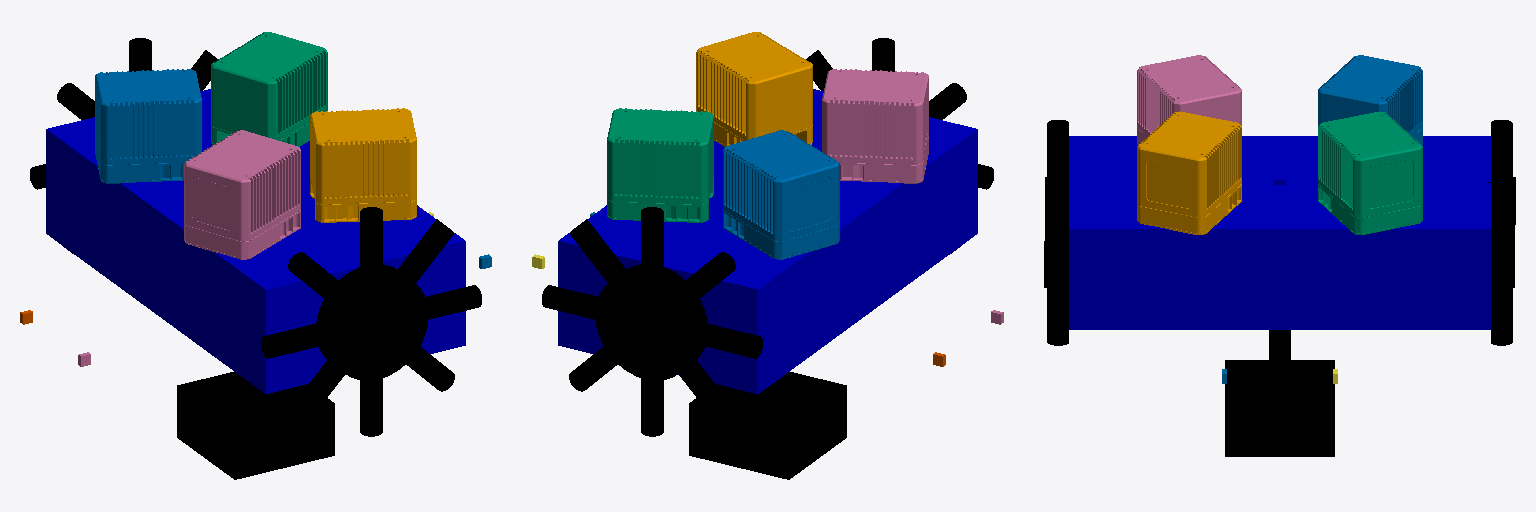
--- Render facts (derived) ---
Views: 3 orthographic renders of the robot side by side, from view 1: azimuth 30°, elevation 25°; view 2: azimuth 150°, elevation 25°; view 3: azimuth 270°, elevation 25°.
Robot: daedalus — 87 links, 86 joints (1 revolute, 6 continuous, 48 prismatic, 31 fixed); root link base_link; default pose: all joints at 0.
Links seen in each view (by area): view 1: filler_link, mid70_3, battery, mid70_0, mid70_2, mid70_1, inner_outer_connector_left, hip_left_5, hip_left_1, hip_left_0, hip_left_6, hip_left_7 (+6 smaller); view 2: filler_link, mid70_2, battery, mid70_1, mid70_3, mid70_0, inner_outer_connector_right, hip_right_5, hip_right_1, hip_right_0, hip_right_6, hip_right_7 (+6 smaller); view 3: filler_link, mid70_0, mid70_1, battery, mid70_2, mid70_3, hip_left_0, hip_right_0, battery_holder, hip_right_3, hip_left_3, hip_left_2 (+5 smaller).
Link boxes in pixels (x1,y1,x2,y2): filler_link: [46, 89, 465, 393]; mid70_3: [184, 130, 300, 259]; battery: [177, 372, 334, 479]; mid70_0: [310, 108, 416, 222]; mid70_2: [95, 69, 201, 183]; mid70_1: [211, 32, 327, 146]; inner_outer_connector_left: [316, 264, 428, 380]; hip_left_5: [288, 360, 344, 424]; hip_left_1: [398, 219, 454, 282]; hip_left_0: [360, 207, 382, 274]; hip_left_6: [261, 323, 326, 358]; hip_left_7: [288, 252, 345, 303]; filler_link: [558, 89, 977, 393]; mid70_2: [723, 130, 839, 259]; battery: [689, 372, 846, 479]; mid70_1: [607, 108, 713, 222]; mid70_3: [822, 69, 928, 183]; mid70_0: [696, 32, 812, 146]; inner_outer_connector_right: [595, 264, 707, 380]; hip_right_5: [679, 360, 735, 424]; hip_right_1: [569, 219, 625, 282]; hip_right_0: [641, 207, 663, 274]; hip_right_6: [697, 323, 762, 358]; hip_right_7: [678, 252, 735, 303]; filler_link: [1069, 136, 1490, 329]; mid70_0: [1137, 111, 1241, 234]; mid70_1: [1318, 111, 1422, 234]; battery: [1225, 360, 1334, 456]; mid70_2: [1318, 55, 1422, 144]; mid70_3: [1137, 55, 1241, 144]; hip_left_0: [1047, 123, 1068, 185]; hip_right_0: [1491, 123, 1512, 185]; battery_holder: [1269, 330, 1290, 387]; hip_right_3: [1491, 284, 1512, 345]; hip_left_3: [1047, 284, 1068, 345]; hip_left_2: [1047, 246, 1068, 291].
Bounding box of the posed robot: 0.41 × 0.4251 × 0.3253 m (x, y, z).
4 mesh visuals loaded from 1 distinct referenced files (1 ASCII STL).

The robot description file, URDF, robot "daedalus":
<?xml version="1.0" ?>
<!-- =================================================================================== -->
<!-- |    This document was autogenerated by xacro from daedalus.urdf.xacro            | -->
<!-- |    EDITING THIS FILE BY HAND IS NOT RECOMMENDED                                 | -->
<!-- =================================================================================== -->
<robot name="daedalus">
  <self_collide>false</self_collide>
  <!--Define some parameters -->
  <material name="white">
    <color rgba="1 1 1 0.2"/>
  </material>
  <material name="blue">
    <color rgba="0 0 0.8 0.1"/>
  </material>
  <material name="black">
    <color rgba="0 0 0 1"/>
  </material>
  <!--The sphere -->
  <link name="base_link"/>
  <link name="sphere">
    <!-- <visual>
      <geometry>
        <sphere radius="0.232"/>
      </geometry>
    </visual> -->
    <collision>
      <geometry>
        <sphere radius="0.232"/>
      </geometry>
    </collision>
    <inertial>
      <mass value="3"/>
      <inertia ixx="0.10764800000000001" ixy="0.0" ixz="0.0" iyy="0.10764800000000001" iyz="0.0" izz="0.10764800000000001"/>
    </inertial>
  </link>
  <gazebo reference="sphere">
    <mu1 value="200.0"/>
    <mu2 value="100.0"/>
    <kp value="10000000.0"/>
    <kd value="1.0"/>
    <material>Gazebo/GreyTransparent</material>
  </gazebo>
  <link name="filler_link">
    <visual>
      <geometry>
        <box size=".2 .38 .1"/>
      </geometry>
      <origin rpy="0 0 0" xyz="0 0 0"/>
      <material name="blue"/>
    </visual>
    <inertial>
      <mass value="1"/>
      <inertia ixx=".0145" ixy="0.0" ixz="0" iyy=".0181" iyz="0.0" izz=".006"/>
    </inertial>
  </link>
  <gazebo reference="filler_link">
    <material>Gazebo/Black</material>
  </gazebo>
  <link name="baseplate">
    <visual>
      <geometry>
        <box size=".2 .38 .1"/>
      </geometry>
      <origin rpy="0 0 0" xyz="0 0 0"/>
      <material name="blue"/>
    </visual>
    <inertial>
      <mass value="30"/>
      <inertia ixx="0.436" ixy="0.0" ixz="0" iyy="0.544" iyz="0.0" izz="0.18"/>
    </inertial>
  </link>
  <gazebo reference="baseplate">
    <material>Gazebo/Black</material>
  </gazebo>
  <joint name="connector_to_sphere_left" type="fixed">
    <parent link="inner_outer_connector_left"/>
    <child link="sphere"/>
    <origin xyz="0 0.2 0"/>
  </joint>
  <joint name="temp_cyl_1" type="continuous">
    <parent link="filler_link"/>
    <child link="inner_outer_connector_right"/>
    <axis rpy="0 0 0" xyz="0 1 0"/>
    <origin xyz="0 0.2 0"/>
    <limit effort="30.0" velocity="30.0"/>
    <joint_properties damping="1000.0" friction="1000.0"/>
    <dynamics damping="100.0" friction="200.0"/>
  </joint>
  <!--gazebo reference="temp_cyl_1">
    <implicitSpringDamper>true</implicitSpringDamper>
  </gazebo-->
  <joint name="temp_cyl_2" type="continuous">
    <parent link="filler_link"/>
    <child link="inner_outer_connector_left"/>
    <axis rpy="0 0 0" xyz="0 1 0"/>
    <origin xyz="0 -0.2 0"/>
    <limit effort="30.0" velocity="30.0"/>
    <joint_properties damping="1000.0" friction="1000.0"/>
    <dynamics damping="100.0" friction="200.0"/>
  </joint>
  <!--gazebo reference="temp_cyl_2">
    <implicitSpringDamper>true</implicitSpringDamper>
  </gazebo-->
  <joint name="filler" type="fixed">
    <parent link="base_link"/>
    <child link="filler_link"/>
    <origin xyz="0 0 0"/>
  </joint>
  <joint name="base_joint" type="fixed">
    <parent link="base_link"/>
    <child link="baseplate"/>
    <origin xyz="0 0 0"/>
  </joint>
  <transmission name="temp_cyl_1">
    <type>transmission_interface/SimpleTransmission</type>
    <actuator name="$temp_cyl_1">
      <mechanicalReduction>1</mechanicalReduction>
    </actuator>
    <joint name="temp_cyl_1">
      <hardwareInterface>hardware_interface/VelocityJointInterface</hardwareInterface>
    </joint>
  </transmission>
  <transmission name="temp_cyl_2">
    <type>transmission_interface/SimpleTransmission</type>
    <actuator name="$temp_cyl_2">
      <mechanicalReduction>1</mechanicalReduction>
    </actuator>
    <joint name="temp_cyl_2">
      <hardwareInterface>hardware_interface/VelocityJointInterface</hardwareInterface>
    </joint>
  </transmission>
  <link name="inner_outer_connector_right">
    <visual>
      <geometry>
        <cylinder length="0.025" radius="0.05"/>
      </geometry>
      <material name="black"/>
      <origin rpy="1.57 0 0" xyz="0 0 0"/>
    </visual>
    <collision>
      <geometry>
        <cylinder length="0.025" radius="0.05"/>
        <origin rpy="1.57 0 0" xyz="0 0 0"/>
      </geometry>
    </collision>
    <inertial>
      <mass value="0.3"/>
      <inertia ixx="1" ixy="0.0" ixz="0.0" iyy="1" iyz="0.0" izz="1"/>
    </inertial>
  </link>
  <gazebo reference="inner_outer_connector_right">
    <material>Gazebo/Black</material>
  </gazebo>
  <link name="inner_outer_connector_left">
    <visual>
      <geometry>
        <cylinder length="0.025" radius="0.05"/>
      </geometry>
      <material name="black"/>
      <origin rpy="1.57 0 0" xyz="0 0 0"/>
    </visual>
    <collision>
      <geometry>
        <cylinder length="0.025" radius="0.05"/>
        <origin rpy="1.57 0 0" xyz="0 0 0"/>
      </geometry>
    </collision>
    <inertial>
      <mass value="0.3"/>
      <inertia ixx="1" ixy="0.0" ixz="0.0" iyy="1" iyz="0.0" izz="1"/>
    </inertial>
  </link>
  <gazebo reference="inner_outer_connector_left">
    <material>Gazebo/Black</material>
  </gazebo>
  <link name="battery_holder">
    <visual>
      <geometry>
        <cylinder length="0.2" radius="0.01"/>
      </geometry>
      <origin rpy="0 0 0" xyz="0 0 -0.07"/>
      <material name="black"/>
    </visual>
    <collision>
      <geometry>
        <cylinder length="0.2" radius="0.01"/>
      </geometry>
    </collision>
    <inertial>
      <mass value="1"/>
      <inertia ixx="0.019" ixy="0.0" ixz="0.0" iyy="0.019" iyz="0.0" izz="0"/>
    </inertial>
  </link>
  <gazebo reference="battery_holder">
    <material>Gazebo/Black</material>
  </gazebo>
  <link name="battery">
    <visual>
      <geometry>
        <box size="0.1 0.1 0.05"/>
      </geometry>
      <origin rpy="0 0 0" xyz="0 0 0"/>
      <material name="black"/>
    </visual>
    <inertial>
      <mass value="10.0"/>
      <inertia ixx="0.01666666666666667" ixy="0.0" ixz="0.0" iyy="0.01666666666666667" iyz="0.0" izz="0.01041666666666667"/>
    </inertial>
    <collision>
      <geometry>
        <box size="0.1 0.1 0.05"/>
      </geometry>
    </collision>
  </link>
  <gazebo reference="battery">
    <material>Gazebo/Grey</material>
  </gazebo>
  <joint name="battery_joint" type="fixed">
    <parent link="battery_holder"/>
    <child link="battery"/>
    <origin xyz="0 0 -0.175"/>
  </joint>
  <joint name="battery_yaw" type="revolute">
    <parent link="baseplate"/>
    <axis xyz="1 0 0"/>
    <child link="battery_holder"/>
    <limit effort="1000.0" lower="-0.7853981633974483" upper="0.7853981633974483" velocity="0.5"/>
    <origin xyz="0 0 0"/>
    <joint_properties damping="1000.0" friction="1000.0"/>
    <dynamics damping="100.0" friction="200.0"/>
  </joint>
  <gazebo reference="battery_yaw">
    <implicitSpringDamper>true</implicitSpringDamper>
  </gazebo>
  <transmission name="battery_holder_trans">
    <type>transmission_interface/SimpleTransmission</type>
    <actuator name="$battery_holder__motor">
      <mechanicalReduction>1</mechanicalReduction>
    </actuator>
    <joint name="battery_yaw">
      <hardwareInterface>hardware_interface/PositionJointInterface</hardwareInterface>
    </joint>
  </transmission>
  <link name="hip_right_0">
    <visual>
      <geometry>
        <cylinder length="0.07" radius="0.01"/>
      </geometry>
      <material name="black"/>
    </visual>
    <collision>
      <geometry>
        <cylinder length="0.07" radius="0.01"/>
      </geometry>
    </collision>
    <inertial>
      <mass value="0.01"/>
      <inertia ixx="4.083333333333334e-06" ixy="0.0" ixz="0.0" iyy="0.0" iyz="0.0" izz="4.083333333333334e-06"/>
    </inertial>
  </link>
  <gazebo reference="hip_right_0">
    <material>Gazebo/Grey</material>
  </gazebo>
  <link name="outer_leg_right_0">
    <visual>
      <geometry>
        <cylinder length="0.07" radius="0.008"/>
      </geometry>
      <material name="black"/>
    </visual>
    <collision>
      <geometry>
        <cylinder length="0.07" radius="0.008"/>
      </geometry>
    </collision>
    <inertial>
      <mass value="0.008"/>
      <inertia ixx="3.2666666666666674e-06" ixy="0.0" ixz="0.0" iyy="0.0" iyz="0.0" izz="3.2666666666666674e-06"/>
    </inertial>
  </link>
  <gazebo reference="outer_leg_right_0">
    <material>Gazebo/Grey</material>
  </gazebo>
  <link name="center_leg_right_0">
    <visual>
      <geometry>
        <cylinder length="0.07" radius="0.006"/>
      </geometry>
      <material name="black"/>
    </visual>
    <collision>
      <geometry>
        <cylinder length="0.07" radius="0.006"/>
      </geometry>
    </collision>
    <inertial>
      <mass value="0.006"/>
      <inertia ixx="2.45e-06" ixy="0.0" ixz="0.0" iyy="2.45e-06" iyz="0.0" izz="0.0"/>
    </inertial>
  </link>
  <gazebo reference="center_leg_right_0">
    <material>Gazebo/Grey</material>
  </gazebo>
  <link name="inner_leg_right_0">
    <visual>
      <geometry>
        <cylinder length="0.07" radius="0.004"/>
      </geometry>
      <material name="black"/>
    </visual>
    <collision>
      <geometry>
        <cylinder length="0.07" radius="0.004"/>
      </geometry>
    </collision>
    <inertial>
      <mass value="0.004"/>
      <inertia ixx="1.6333333333333337e-06" ixy="0.0" ixz="0.0" iyy="1.6333333333333337e-06" iyz="0.0" izz="0.0"/>
    </inertial>
  </link>
  <gazebo reference="inner_leg_right_0">
    <material>Gazebo/Grey</material>
  </gazebo>
  <joint name="base_to_hip_right_0" type="fixed">
    <parent link="inner_outer_connector_right"/>
    <child link="hip_right_0"/>
    <origin rpy="0 0.0 0" xyz="0.0 0 0.07"/>
  </joint>
  <joint name="hip_to_outer_leg_right_0" type="prismatic">
    <axis xyz="0 0 1"/>
    <parent link="hip_right_0"/>
    <child link="outer_leg_right_0"/>
    <limit effort="200.0" lower="0.0" upper="0.07" velocity="0.1"/>
    <origin rpy="0 0 0" xyz="0 0 0"/>
    <dynamics damping="100" friction="200"/>
  </joint>
  <gazebo reference="hip_to_outer_leg_right_0">
    <implicitSpringDamper>true</implicitSpringDamper>
  </gazebo>
  <joint name="outer_to_center_leg_right_0" type="prismatic">
    <axis xyz="0 0 1"/>
    <parent link="outer_leg_right_0"/>
    <child link="center_leg_right_0"/>
    <limit effort="200.0" lower="0.0" upper="0.07" velocity="0.1"/>
    <origin rpy="0 0 0" xyz="0 0 0"/>
    <dynamics damping="100" friction="200"/>
  </joint>
  <gazebo reference="outer_to_center_leg_right_0">
    <implicitSpringDamper>true</implicitSpringDamper>
  </gazebo>
  <joint name="center_to_inner_leg_right_0" type="prismatic">
    <axis xyz="0 0 1"/>
    <parent link="center_leg_right_0"/>
    <child link="inner_leg_right_0"/>
    <limit effort="200.0" lower="0.0" upper="0.07" velocity="0.1"/>
    <origin rpy="0 0 0" xyz="0 0 0"/>
    <dynamics damping="100" friction="200"/>
  </joint>
  <gazebo reference="center_to_inner_leg_right_0">
    <implicitSpringDamper>true</implicitSpringDamper>
  </gazebo>
  <transmission name="outer_leg_extension_right_0_trans" type="SimpleTransmission">
    <type>transmission_interface/SimpleTransmission</type>
    <actuator name="outer_leg_extension_right_0_motor">
      <hardwareInterface>hardware_interface/PositionJointInterface</hardwareInterface>
      <mechanicalReduction>1</mechanicalReduction>
    </actuator>
    <joint name="hip_to_outer_leg_right_0">
      <hardwareInterface>hardware_interface/PositionJointInterface</hardwareInterface>
    </joint>
  </transmission>
  <transmission name="center_leg_extension_right_0_trans" type="SimpleTransmission">
    <type>transmission_interface/SimpleTransmission</type>
    <actuator name="center_leg_extension_right_0_motor">
      <hardwareInterface>hardware_interface/PositionJointInterface</hardwareInterface>
      <mechanicalReduction>1</mechanicalReduction>
    </actuator>
    <joint name="outer_to_center_leg_right_0">
      <hardwareInterface>hardware_interface/PositionJointInterface</hardwareInterface>
    </joint>
  </transmission>
  <transmission name="inner_leg_extension_right_0_trans" type="SimpleTransmission">
    <type>transmission_interface/SimpleTransmission</type>
    <actuator name="inner_leg_extension_right_0_motor">
      <hardwareInterface>hardware_interface/PositionJointInterface</hardwareInterface>
      <mechanicalReduction>1</mechanicalReduction>
    </actuator>
    <joint name="center_to_inner_leg_right_0">
      <hardwareInterface>hardware_interface/PositionJointInterface</hardwareInterface>
    </joint>
  </transmission>
  <link name="hip_right_2">
    <visual>
      <geometry>
        <cylinder length="0.07" radius="0.01"/>
      </geometry>
      <material name="black"/>
    </visual>
    <collision>
      <geometry>
        <cylinder length="0.07" radius="0.01"/>
      </geometry>
    </collision>
    <inertial>
      <mass value="0.01"/>
      <inertia ixx="4.083333333333334e-06" ixy="0.0" ixz="0.0" iyy="0.0" iyz="0.0" izz="4.083333333333334e-06"/>
    </inertial>
  </link>
  <gazebo reference="hip_right_2">
    <material>Gazebo/Grey</material>
  </gazebo>
  <link name="outer_leg_right_2">
    <visual>
      <geometry>
        <cylinder length="0.07" radius="0.008"/>
      </geometry>
      <material name="black"/>
    </visual>
    <collision>
      <geometry>
        <cylinder length="0.07" radius="0.008"/>
      </geometry>
    </collision>
    <inertial>
      <mass value="0.008"/>
      <inertia ixx="3.2666666666666674e-06" ixy="0.0" ixz="0.0" iyy="0.0" iyz="0.0" izz="3.2666666666666674e-06"/>
    </inertial>
  </link>
  <gazebo reference="outer_leg_right_2">
    <material>Gazebo/Grey</material>
  </gazebo>
  <link name="center_leg_right_2">
    <visual>
      <geometry>
        <cylinder length="0.07" radius="0.006"/>
      </geometry>
      <material name="black"/>
    </visual>
    <collision>
      <geometry>
        <cylinder length="0.07" radius="0.006"/>
      </geometry>
    </collision>
    <inertial>
      <mass value="0.006"/>
      <inertia ixx="2.45e-06" ixy="0.0" ixz="0.0" iyy="2.45e-06" iyz="0.0" izz="0.0"/>
    </inertial>
  </link>
  <gazebo reference="center_leg_right_2">
    <material>Gazebo/Grey</material>
  </gazebo>
  <link name="inner_leg_right_2">
    <visual>
      <geometry>
        <cylinder length="0.07" radius="0.004"/>
      </geometry>
      <material name="black"/>
    </visual>
    <collision>
      <geometry>
        <cylinder length="0.07" radius="0.004"/>
      </geometry>
    </collision>
    <inertial>
      <mass value="0.004"/>
      <inertia ixx="1.6333333333333337e-06" ixy="0.0" ixz="0.0" iyy="1.6333333333333337e-06" iyz="0.0" izz="0.0"/>
    </inertial>
  </link>
  <gazebo reference="inner_leg_right_2">
    <material>Gazebo/Grey</material>
  </gazebo>
  <joint name="base_to_hip_right_2" type="fixed">
    <parent link="inner_outer_connector_right"/>
    <child link="hip_right_2"/>
    <origin rpy="0 1.5707963267948966 0" xyz="0.07 0 4.286263797015737e-18"/>
  </joint>
  <joint name="hip_to_outer_leg_right_2" type="prismatic">
    <axis xyz="0 0 1"/>
    <parent link="hip_right_2"/>
    <child link="outer_leg_right_2"/>
    <limit effort="200.0" lower="0.0" upper="0.07" velocity="0.1"/>
    <origin rpy="0 0 0" xyz="0 0 0"/>
    <dynamics damping="100" friction="200"/>
  </joint>
  <gazebo reference="hip_to_outer_leg_right_2">
    <implicitSpringDamper>true</implicitSpringDamper>
  </gazebo>
  <joint name="outer_to_center_leg_right_2" type="prismatic">
    <axis xyz="0 0 1"/>
    <parent link="outer_leg_right_2"/>
    <child link="center_leg_right_2"/>
    <limit effort="200.0" lower="0.0" upper="0.07" velocity="0.1"/>
    <origin rpy="0 0 0" xyz="0 0 0"/>
    <dynamics damping="100" friction="200"/>
  </joint>
  <gazebo reference="outer_to_center_leg_right_2">
    <implicitSpringDamper>true</implicitSpringDamper>
  </gazebo>
  <joint name="center_to_inner_leg_right_2" type="prismatic">
    <axis xyz="0 0 1"/>
    <parent link="center_leg_right_2"/>
    <child link="inner_leg_right_2"/>
    <limit effort="200.0" lower="0.0" upper="0.07" velocity="0.1"/>
    <origin rpy="0 0 0" xyz="0 0 0"/>
    <dynamics damping="100" friction="200"/>
  </joint>
  <gazebo reference="center_to_inner_leg_right_2">
    <implicitSpringDamper>true</implicitSpringDamper>
  </gazebo>
  <transmission name="outer_leg_extension_right_2_trans" type="SimpleTransmission">
    <type>transmission_interface/SimpleTransmission</type>
    <actuator name="outer_leg_extension_right_2_motor">
      <hardwareInterface>hardware_interface/PositionJointInterface</hardwareInterface>
      <mechanicalReduction>1</mechanicalReduction>
    </actuator>
    <joint name="hip_to_outer_leg_right_2">
      <hardwareInterface>hardware_interface/PositionJointInterface</hardwareInterface>
    </joint>
  </transmission>
  <transmission name="center_leg_extension_right_2_trans" type="SimpleTransmission">
    <type>transmission_interface/SimpleTransmission</type>
    <actuator name="center_leg_extension_right_2_motor">
      <hardwareInterface>hardware_interface/PositionJointInterface</hardwareInterface>
      <mechanicalReduction>1</mechanicalReduction>
    </actuator>
    <joint name="outer_to_center_leg_right_2">
      <hardwareInterface>hardware_interface/PositionJointInterface</hardwareInterface>
    </joint>
  </transmission>
  <transmission name="inner_leg_extension_right_2_trans" type="SimpleTransmission">
    <type>transmission_interface/SimpleTransmission</type>
    <actuator name="inner_leg_extension_right_2_motor">
      <hardwareInterface>hardware_interface/PositionJointInterface</hardwareInterface>
      <mechanicalReduction>1</mechanicalReduction>
    </actuator>
    <joint name="center_to_inner_leg_right_2">
      <hardwareInterface>hardware_interface/PositionJointInterface</hardwareInterface>
    </joint>
  </transmission>
  <link name="hip_right_4">
    <visual>
      <geometry>
        <cylinder length="0.07" radius="0.01"/>
      </geometry>
      <material name="black"/>
    </visual>
    <collision>
      <geometry>
        <cylinder length="0.07" radius="0.01"/>
      </geometry>
    </collision>
    <inertial>
      <mass value="0.01"/>
      <inertia ixx="4.083333333333334e-06" ixy="0.0" ixz="0.0" iyy="0.0" iyz="0.0" izz="4.083333333333334e-06"/>
    </inertial>
  </link>
  <gazebo reference="hip_right_4">
    <material>Gazebo/Grey</material>
  </gazebo>
  <link name="outer_leg_right_4">
    <visual>
      <geometry>
        <cylinder length="0.07" radius="0.008"/>
      </geometry>
      <material name="black"/>
    </visual>
    <collision>
      <geometry>
        <cylinder length="0.07" radius="0.008"/>
      </geometry>
    </collision>
    <inertial>
      <mass value="0.008"/>
      <inertia ixx="3.2666666666666674e-06" ixy="0.0" ixz="0.0" iyy="0.0" iyz="0.0" izz="3.2666666666666674e-06"/>
    </inertial>
  </link>
  <gazebo reference="outer_leg_right_4">
    <material>Gazebo/Grey</material>
  </gazebo>
  <link name="center_leg_right_4">
    <visual>
      <geometry>
        <cylinder length="0.07" radius="0.006"/>
      </geometry>
      <material name="black"/>
    </visual>
    <collision>
      <geometry>
        <cylinder length="0.07" radius="0.006"/>
      </geometry>
    </collision>
    <inertial>
      <mass value="0.006"/>
      <inertia ixx="2.45e-06" ixy="0.0" ixz="0.0" iyy="2.45e-06" iyz="0.0" izz="0.0"/>
    </inertial>
  </link>
  <gazebo reference="center_leg_right_4">
    <material>Gazebo/Grey</material>
  </gazebo>
  <link name="inner_leg_right_4">
    <visual>
      <geometry>
        <cylinder length="0.07" radius="0.004"/>
      </geometry>
      <material name="black"/>
    </visual>
    <collision>
      <geometry>
        <cylinder length="0.07" radius="0.004"/>
      </geometry>
    </collision>
    <inertial>
      <mass value="0.004"/>
      <inertia ixx="1.6333333333333337e-06" ixy="0.0" ixz="0.0" iyy="1.6333333333333337e-06" iyz="0.0" izz="0.0"/>
    </inertial>
  </link>
  <gazebo reference="inner_leg_right_4">
    <material>Gazebo/Grey</material>
  </gazebo>
  <joint name="base_to_hip_right_4" type="fixed">
    <parent link="inner_outer_connector_right"/>
    <child link="hip_right_4"/>
    <origin rpy="0 3.141592653589793 0" xyz="8.572527594031473e-18 0 -0.07"/>
  </joint>
  <joint name="hip_to_outer_leg_right_4" type="prismatic">
    <axis xyz="0 0 1"/>
    <parent link="hip_right_4"/>
    <child link="outer_leg_right_4"/>
    <limit effort="200.0" lower="0.0" upper="0.07" velocity="0.1"/>
    <origin rpy="0 0 0" xyz="0 0 0"/>
    <dynamics damping="100" friction="200"/>
  </joint>
  <gazebo reference="hip_to_outer_leg_right_4">
    <implicitSpringDamper>true</implicitSpringDamper>
  </gazebo>
  <joint name="outer_to_center_leg_right_4" type="prismatic">
    <axis xyz="0 0 1"/>
    <parent link="outer_leg_right_4"/>
    <child link="center_leg_right_4"/>
    <limit effort="200.0" lower="0.0" upper="0.07" velocity="0.1"/>
    <origin rpy="0 0 0" xyz="0 0 0"/>
    <dynamics damping="100" friction="200"/>
  </joint>
  <gazebo reference="outer_to_center_leg_right_4">
    <implicitSpringDamper>true</implicitSpringDamper>
  </gazebo>
  <joint name="center_to_inner_leg_right_4" type="prismatic">
    <axis xyz="0 0 1"/>
    <parent link="center_leg_right_4"/>
    <child link="inner_leg_right_4"/>
    <limit effort="200.0" lower="0.0" upper="0.07" velocity="0.1"/>
    <origin rpy="0 0 0" xyz="0 0 0"/>
    <dynamics damping="100" friction="200"/>
  </joint>
  <gazebo reference="center_to_inner_leg_right_4">
    <implicitSpringDamper>true</implicitSpringDamper>
  </gazebo>
  <transmission name="outer_leg_extension_right_4_trans" type="SimpleTransmission">
    <type>transmission_interface/SimpleTransmission</type>
    <actuator name="outer_leg_extension_right_4_motor">
      <hardwareInterface>hardware_interface/PositionJointInterface</hardwareInterface>
      <mechanicalReduction>1</mechanicalReduction>
    </actuator>
    <joint name="hip_to_outer_leg_right_4">
      <hardwareInterface>hardware_interface/PositionJointInterface</hardwareInterface>
    </joint>
  </transmission>
  <transmission name="center_leg_extension_right_4_trans" type="SimpleTransmission">
    <type>transmission_interface/SimpleTransmission</type>
    <actuator name="center_leg_extension_right_4_motor">
      <hardwareInterface>hardware_interface/PositionJointInterface</hardwareInterface>
      <mechanicalReduction>1</mechanicalReduction>
    </actuator>
    <joint name="outer_to_center_leg_right_4">
      <hardwareInterface>hardware_interface/PositionJointInterface</hardwareInterface>
    </joint>
  </transmission>
  <transmission name="inner_leg_extension_right_4_trans" type="SimpleTransmission">
    <type>transmission_interface/SimpleTransmission</type>
    <actuator name="inner_leg_extension_right_4_motor">
      <hardwareInterface>hardware_interface/PositionJointInterface</hardwareInterface>
      <mechanicalReduction>1</mechanicalReduction>
    </actuator>
    <joint name="center_to_inner_leg_right_4">
      <hardwareInterface>hardware_interface/PositionJointInterface</hardwareInterface>
    </joint>
  </transmission>
  <link name="hip_right_6">
    <visual>
      <geometry>
        <cylinder length="0.07" radius="0.01"/>
      </geometry>
      <material name="black"/>
    </visual>
    <collision>
      <geometry>
        <cylinder length="0.07" radius="0.01"/>
      </geometry>
    </collision>
    <inertial>
      <mass value="0.01"/>
      <inertia ixx="4.083333333333334e-06" ixy="0.0" ixz="0.0" iyy="0.0" iyz="0.0" izz="4.083333333333334e-06"/>
    </inertial>
  </link>
  <gazebo reference="hip_right_6">
    <material>Gazebo/Grey</material>
  </gazebo>
  <link name="outer_leg_right_6">
    <visual>
      <geometry>
        <cylinder length="0.07" radius="0.008"/>
      </geometry>
      <material name="black"/>
    </visual>
    <collision>
      <geometry>
        <cylinder length="0.07" radius="0.008"/>
      </geometry>
    </collision>
    <inertial>
      <mass value="0.008"/>
      <inertia ixx="3.2666666666666674e-06" ixy="0.0" ixz="0.0" iyy="0.0" iyz="0.0" izz="3.2666666666666674e-06"/>
    </inertial>
  </link>
  <gazebo reference="outer_leg_right_6">
    <material>Gazebo/Grey</material>
  </gazebo>
  <link name="center_leg_right_6">
    <visual>
      <geometry>
        <cylinder length="0.07" radius="0.006"/>
      </geometry>
      <material name="black"/>
    </visual>
    <collision>
      <geometry>
        <cylinder length="0.07" radius="0.006"/>
      </geometry>
    </collision>
    <inertial>
      <mass value="0.006"/>
      <inertia ixx="2.45e-06" ixy="0.0" ixz="0.0" iyy="2.45e-06" iyz="0.0" izz="0.0"/>
    </inertial>
  </link>
  <gazebo reference="center_leg_right_6">
    <material>Gazebo/Grey</material>
  </gazebo>
  <link name="inner_leg_right_6">
    <visual>
      <geometry>
        <cylinder length="0.07" radius="0.004"/>
      </geometry>
      <material name="black"/>
    </visual>
    <collision>
      <geometry>
        <cylinder length="0.07" radius="0.004"/>
      </geometry>
    </collision>
    <inertial>
      <mass value="0.004"/>
      <inertia ixx="1.6333333333333337e-06" ixy="0.0" ixz="0.0" iyy="1.6333333333333337e-06" iyz="0.0" izz="0.0"/>
    </inertial>
  </link>
  <gazebo reference="inner_leg_right_6">
    <material>Gazebo/Grey</material>
  </gazebo>
  <joint name="base_to_hip_right_6" type="fixed">
    <parent link="inner_outer_connector_right"/>
    <child link="hip_right_6"/>
    <origin rpy="0 4.71238898038469 0" xyz="-0.07 0 -1.285879139104721e-17"/>
  </joint>
  <joint name="hip_to_outer_leg_right_6" type="prismatic">
    <axis xyz="0 0 1"/>
    <parent link="hip_right_6"/>
    <child link="outer_leg_right_6"/>
    <limit effort="200.0" lower="0.0" upper="0.07" velocity="0.1"/>
    <origin rpy="0 0 0" xyz="0 0 0"/>
    <dynamics damping="100" friction="200"/>
  </joint>
  <gazebo reference="hip_to_outer_leg_right_6">
    <implicitSpringDamper>true</implicitSpringDamper>
  </gazebo>
  <joint name="outer_to_center_leg_right_6" type="prismatic">
    <axis xyz="0 0 1"/>
    <parent link="outer_leg_right_6"/>
    <child link="center_leg_right_6"/>
    <limit effort="200.0" lower="0.0" upper="0.07" velocity="0.1"/>
    <origin rpy="0 0 0" xyz="0 0 0"/>
    <dynamics damping="100" friction="200"/>
  </joint>
  <gazebo reference="outer_to_center_leg_right_6">
    <implicitSpringDamper>true</implicitSpringDamper>
  </gazebo>
  <joint name="center_to_inner_leg_right_6" type="prismatic">
    <axis xyz="0 0 1"/>
    <parent link="center_leg_right_6"/>
    <child link="inner_leg_right_6"/>
    <limit effort="200.0" lower="0.0" upper="0.07" velocity="0.1"/>
    <origin rpy="0 0 0" xyz="0 0 0"/>
    <dynamics damping="100" friction="200"/>
  </joint>
  <gazebo reference="center_to_inner_leg_right_6">
    <implicitSpringDamper>true</implicitSpringDamper>
  </gazebo>
  <transmission name="outer_leg_extension_right_6_trans" type="SimpleTransmission">
    <type>transmission_interface/SimpleTransmission</type>
    <actuator name="outer_leg_extension_right_6_motor">
      <hardwareInterface>hardware_interface/PositionJointInterface</hardwareInterface>
      <mechanicalReduction>1</mechanicalReduction>
    </actuator>
    <joint name="hip_to_outer_leg_right_6">
      <hardwareInterface>hardware_interface/PositionJointInterface</hardwareInterface>
    </joint>
  </transmission>
  <transmission name="center_leg_extension_right_6_trans" type="SimpleTransmission">
    <type>transmission_interface/SimpleTransmission</type>
    <actuator name="center_leg_extension_right_6_motor">
      <hardwareInterface>hardware_interface/PositionJointInterface</hardwareInterface>
      <mechanicalReduction>1</mechanicalReduction>
    </actuator>
    <joint name="outer_to_center_leg_right_6">
      <hardwareInterface>hardware_interface/PositionJointInterface</hardwareInterface>
    </joint>
  </transmission>
  <transmission name="inner_leg_extension_right_6_trans" type="SimpleTransmission">
    <type>transmission_interface/SimpleTransmission</type>
    <actuator name="inner_leg_extension_right_6_motor">
      <hardwareInterface>hardware_interface/PositionJointInterface</hardwareInterface>
      <mechanicalReduction>1</mechanicalReduction>
    </actuator>
    <joint name="center_to_inner_leg_right_6">
      <hardwareInterface>hardware_interface/PositionJointInterface</hardwareInterface>
    </joint>
  </transmission>
  <link name="hip_right_1">
    <visual>
      <geometry>
        <cylinder length="0.07" radius="0.01"/>
      </geometry>
      <material name="black"/>
    </visual>
    <collision>
      <geometry>
        <cylinder length="0.07" radius="0.01"/>
      </geometry>
    </collision>
    <inertial>
      <mass value="0.01"/>
      <inertia ixx="4.083333333333334e-06" ixy="0.0" ixz="0.0" iyy="0.0" iyz="0.0" izz="4.083333333333334e-06"/>
    </inertial>
  </link>
  <gazebo reference="hip_right_1">
    <material>Gazebo/Grey</material>
  </gazebo>
  <link name="outer_leg_right_1">
    <visual>
      <geometry>
        <cylinder length="0.07" radius="0.008"/>
      </geometry>
      <material name="black"/>
    </visual>
    <collision>
      <geometry>
        <cylinder length="0.07" radius="0.008"/>
      </geometry>
    </collision>
    <inertial>
      <mass value="0.008"/>
      <inertia ixx="3.2666666666666674e-06" ixy="0.0" ixz="0.0" iyy="0.0" iyz="0.0" izz="3.2666666666666674e-06"/>
    </inertial>
  </link>
  <gazebo reference="outer_leg_right_1">
    <material>Gazebo/Grey</material>
  </gazebo>
  <link name="center_leg_right_1">
    <visual>
      <geometry>
        <cylinder length="0.07" radius="0.006"/>
      </geometry>
      <material name="black"/>
    </visual>
    <collision>
      <geometry>
        <cylinder length="0.07" radius="0.006"/>
      </geometry>
    </collision>
    <inertial>
      <mass value="0.006"/>
      <inertia ixx="2.45e-06" ixy="0.0" ixz="0.0" iyy="2.45e-06" iyz="0.0" izz="0.0"/>
    </inertial>
  </link>
  <gazebo reference="center_leg_right_1">
    <material>Gazebo/Grey</material>
  </gazebo>
  <link name="inner_leg_right_1">
    <visual>
      <geometry>
        <cylinder length="0.07" radius="0.004"/>
      </geometry>
      <material name="black"/>
    </visual>
    <collision>
      <geometry>
        <cylinder length="0.07" radius="0.004"/>
      </geometry>
    </collision>
    <inertial>
      <mass value="0.004"/>
      <inertia ixx="1.6333333333333337e-06" ixy="0.0" ixz="0.0" iyy="1.6333333333333337e-06" iyz="0.0" izz="0.0"/>
    </inertial>
  </link>
  <gazebo reference="inner_leg_right_1">
    <material>Gazebo/Grey</material>
  </gazebo>
  <joint name="base_to_hip_right_1" type="fixed">
    <parent link="inner_outer_connector_right"/>
    <child link="hip_right_1"/>
    <origin rpy="0 0.7853981633974483 0" xyz="0.049497474683058325 0 0.04949747468305833"/>
  </joint>
  <joint name="hip_to_outer_leg_right_1" type="prismatic">
    <axis xyz="0 0 1"/>
    <parent link="hip_right_1"/>
    <child link="outer_leg_right_1"/>
    <limit effort="200.0" lower="0.0" upper="0.07" velocity="0.1"/>
    <origin rpy="0 0 0" xyz="0 0 0"/>
    <dynamics damping="100" friction="200"/>
  </joint>
  <gazebo reference="hip_to_outer_leg_right_1">
    <implicitSpringDamper>true</implicitSpringDamper>
  </gazebo>
  <joint name="outer_to_center_leg_right_1" type="prismatic">
    <axis xyz="0 0 1"/>
    <parent link="outer_leg_right_1"/>
    <child link="center_leg_right_1"/>
    <limit effort="200.0" lower="0.0" upper="0.07" velocity="0.1"/>
    <origin rpy="0 0 0" xyz="0 0 0"/>
    <dynamics damping="100" friction="200"/>
  </joint>
  <gazebo reference="outer_to_center_leg_right_1">
    <implicitSpringDamper>true</implicitSpringDamper>
  </gazebo>
  <joint name="center_to_inner_leg_right_1" type="prismatic">
    <axis xyz="0 0 1"/>
    <parent link="center_leg_right_1"/>
    <child link="inner_leg_right_1"/>
    <limit effort="200.0" lower="0.0" upper="0.07" velocity="0.1"/>
    <origin rpy="0 0 0" xyz="0 0 0"/>
    <dynamics damping="100" friction="200"/>
  </joint>
  <gazebo reference="center_to_inner_leg_right_1">
    <implicitSpringDamper>true</implicitSpringDamper>
  </gazebo>
  <transmission name="outer_leg_extension_right_1_trans" type="SimpleTransmission">
    <type>transmission_interface/SimpleTransmission</type>
    <actuator name="outer_leg_extension_right_1_motor">
      <hardwareInterface>hardware_interface/PositionJointInterface</hardwareInterface>
      <mechanicalReduction>1</mechanicalReduction>
    </actuator>
    <joint name="hip_to_outer_leg_right_1">
      <hardwareInterface>hardware_interface/PositionJointInterface</hardwareInterface>
    </joint>
  </transmission>
  <transmission name="center_leg_extension_right_1_trans" type="SimpleTransmission">
    <type>transmission_interface/SimpleTransmission</type>
    <actuator name="center_leg_extension_right_1_motor">
      <hardwareInterface>hardware_interface/PositionJointInterface</hardwareInterface>
      <mechanicalReduction>1</mechanicalReduction>
    </actuator>
    <joint name="outer_to_center_leg_right_1">
      <hardwareInterface>hardware_interface/PositionJointInterface</hardwareInterface>
    </joint>
  </transmission>
  <transmission name="inner_leg_extension_right_1_trans" type="SimpleTransmission">
    <type>transmission_interface/SimpleTransmission</type>
    <actuator name="inner_leg_extension_right_1_motor">
      <hardwareInterface>hardware_interface/PositionJointInterface</hardwareInterface>
      <mechanicalReduction>1</mechanicalReduction>
    </actuator>
    <joint name="center_to_inner_leg_right_1">
      <hardwareInterface>hardware_interface/PositionJointInterface</hardwareInterface>
    </joint>
  </transmission>
  <link name="hip_right_3">
    <visual>
      <geometry>
        <cylinder length="0.07" radius="0.01"/>
      </geometry>
      <material name="black"/>
    </visual>
    <collision>
      <geometry>
        <cylinder length="0.07" radius="0.01"/>
      </geometry>
    </collision>
    <inertial>
      <mass value="0.01"/>
      <inertia ixx="4.083333333333334e-06" ixy="0.0" ixz="0.0" iyy="0.0" iyz="0.0" izz="4.083333333333334e-06"/>
    </inertial>
  </link>
  <gazebo reference="hip_right_3">
    <material>Gazebo/Grey</material>
  </gazebo>
  <link name="outer_leg_right_3">
    <visual>
      <geometry>
        <cylinder length="0.07" radius="0.008"/>
      </geometry>
      <material name="black"/>
    </visual>
    <collision>
      <geometry>
        <cylinder length="0.07" radius="0.008"/>
      </geometry>
    </collision>
    <inertial>
      <mass value="0.008"/>
      <inertia ixx="3.2666666666666674e-06" ixy="0.0" ixz="0.0" iyy="0.0" iyz="0.0" izz="3.2666666666666674e-06"/>
    </inertial>
  </link>
  <gazebo reference="outer_leg_right_3">
    <material>Gazebo/Grey</material>
  </gazebo>
  <link name="center_leg_right_3">
    <visual>
      <geometry>
        <cylinder length="0.07" radius="0.006"/>
      </geometry>
      <material name="black"/>
    </visual>
    <collision>
      <geometry>
        <cylinder length="0.07" radius="0.006"/>
      </geometry>
    </collision>
    <inertial>
      <mass value="0.006"/>
      <inertia ixx="2.45e-06" ixy="0.0" ixz="0.0" iyy="2.45e-06" iyz="0.0" izz="0.0"/>
    </inertial>
  </link>
  <gazebo reference="center_leg_right_3">
    <material>Gazebo/Grey</material>
  </gazebo>
  <link name="inner_leg_right_3">
    <visual>
      <geometry>
        <cylinder length="0.07" radius="0.004"/>
      </geometry>
      <material name="black"/>
    </visual>
    <collision>
      <geometry>
        <cylinder length="0.07" radius="0.004"/>
      </geometry>
    </collision>
    <inertial>
      <mass value="0.004"/>
      <inertia ixx="1.6333333333333337e-06" ixy="0.0" ixz="0.0" iyy="1.6333333333333337e-06" iyz="0.0" izz="0.0"/>
    </inertial>
  </link>
  <gazebo reference="inner_leg_right_3">
    <material>Gazebo/Grey</material>
  </gazebo>
  <joint name="base_to_hip_right_3" type="fixed">
    <parent link="inner_outer_connector_right"/>
    <child link="hip_right_3"/>
    <origin rpy="0 2.356194490192345 0" xyz="0.04949747468305833 0 -0.049497474683058325"/>
  </joint>
  <joint name="hip_to_outer_leg_right_3" type="prismatic">
    <axis xyz="0 0 1"/>
    <parent link="hip_right_3"/>
    <child link="outer_leg_right_3"/>
    <limit effort="200.0" lower="0.0" upper="0.07" velocity="0.1"/>
    <origin rpy="0 0 0" xyz="0 0 0"/>
    <dynamics damping="100" friction="200"/>
  </joint>
  <gazebo reference="hip_to_outer_leg_right_3">
    <implicitSpringDamper>true</implicitSpringDamper>
  </gazebo>
  <joint name="outer_to_center_leg_right_3" type="prismatic">
    <axis xyz="0 0 1"/>
    <parent link="outer_leg_right_3"/>
    <child link="center_leg_right_3"/>
    <limit effort="200.0" lower="0.0" upper="0.07" velocity="0.1"/>
    <origin rpy="0 0 0" xyz="0 0 0"/>
    <dynamics damping="100" friction="200"/>
  </joint>
  <gazebo reference="outer_to_center_leg_right_3">
    <implicitSpringDamper>true</implicitSpringDamper>
  </gazebo>
  <joint name="center_to_inner_leg_right_3" type="prismatic">
    <axis xyz="0 0 1"/>
    <parent link="center_leg_right_3"/>
    <child link="inner_leg_right_3"/>
    <limit effort="200.0" lower="0.0" upper="0.07" velocity="0.1"/>
    <origin rpy="0 0 0" xyz="0 0 0"/>
    <dynamics damping="100" friction="200"/>
  </joint>
  <gazebo reference="center_to_inner_leg_right_3">
    <implicitSpringDamper>true</implicitSpringDamper>
  </gazebo>
  <transmission name="outer_leg_extension_right_3_trans" type="SimpleTransmission">
    <type>transmission_interface/SimpleTransmission</type>
    <actuator name="outer_leg_extension_right_3_motor">
      <hardwareInterface>hardware_interface/PositionJointInterface</hardwareInterface>
      <mechanicalReduction>1</mechanicalReduction>
    </actuator>
    <joint name="hip_to_outer_leg_right_3">
      <hardwareInterface>hardware_interface/PositionJointInterface</hardwareInterface>
    </joint>
  </transmission>
  <transmission name="center_leg_extension_right_3_trans" type="SimpleTransmission">
    <type>transmission_interface/SimpleTransmission</type>
    <actuator name="center_leg_extension_right_3_motor">
      <hardwareInterface>hardware_interface/PositionJointInterface</hardwareInterface>
      <mechanicalReduction>1</mechanicalReduction>
    </actuator>
    <joint name="outer_to_center_leg_right_3">
      <hardwareInterface>hardware_interface/PositionJointInterface</hardwareInterface>
    </joint>
  </transmission>
  <transmission name="inner_leg_extension_right_3_trans" type="SimpleTransmission">
    <type>transmission_interface/SimpleTransmission</type>
    <actuator name="inner_leg_extension_right_3_motor">
      <hardwareInterface>hardware_interface/PositionJointInterface</hardwareInterface>
      <mechanicalReduction>1</mechanicalReduction>
    </actuator>
    <joint name="center_to_inner_leg_right_3">
      <hardwareInterface>hardware_interface/PositionJointInterface</hardwareInterface>
    </joint>
  </transmission>
  <link name="hip_right_5">
    <visual>
      <geometry>
        <cylinder length="0.07" radius="0.01"/>
      </geometry>
      <material name="black"/>
    </visual>
    <collision>
      <geometry>
        <cylinder length="0.07" radius="0.01"/>
      </geometry>
    </collision>
    <inertial>
      <mass value="0.01"/>
      <inertia ixx="4.083333333333334e-06" ixy="0.0" ixz="0.0" iyy="0.0" iyz="0.0" izz="4.083333333333334e-06"/>
    </inertial>
  </link>
  <gazebo reference="hip_right_5">
    <material>Gazebo/Grey</material>
  </gazebo>
  <link name="outer_leg_right_5">
    <visual>
      <geometry>
        <cylinder length="0.07" radius="0.008"/>
      </geometry>
      <material name="black"/>
    </visual>
    <collision>
      <geometry>
        <cylinder length="0.07" radius="0.008"/>
      </geometry>
    </collision>
    <inertial>
      <mass value="0.008"/>
      <inertia ixx="3.2666666666666674e-06" ixy="0.0" ixz="0.0" iyy="0.0" iyz="0.0" izz="3.2666666666666674e-06"/>
    </inertial>
  </link>
  <gazebo reference="outer_leg_right_5">
    <material>Gazebo/Grey</material>
  </gazebo>
  <link name="center_leg_right_5">
    <visual>
      <geometry>
        <cylinder length="0.07" radius="0.006"/>
      </geometry>
      <material name="black"/>
    </visual>
    <collision>
      <geometry>
        <cylinder length="0.07" radius="0.006"/>
      </geometry>
    </collision>
    <inertial>
      <mass value="0.006"/>
      <inertia ixx="2.45e-06" ixy="0.0" ixz="0.0" iyy="2.45e-06" iyz="0.0" izz="0.0"/>
    </inertial>
  </link>
  <gazebo reference="center_leg_right_5">
    <material>Gazebo/Grey</material>
  </gazebo>
  <link name="inner_leg_right_5">
    <visual>
      <geometry>
        <cylinder length="0.07" radius="0.004"/>
      </geometry>
      <material name="black"/>
    </visual>
    <collision>
      <geometry>
        <cylinder length="0.07" radius="0.004"/>
      </geometry>
    </collision>
    <inertial>
      <mass value="0.004"/>
      <inertia ixx="1.6333333333333337e-06" ixy="0.0" ixz="0.0" iyy="1.6333333333333337e-06" iyz="0.0" izz="0.0"/>
    </inertial>
  </link>
  <gazebo reference="inner_leg_right_5">
    <material>Gazebo/Grey</material>
  </gazebo>
  <joint name="base_to_hip_right_5" type="fixed">
    <parent link="inner_outer_connector_right"/>
    <child link="hip_right_5"/>
    <origin rpy="0 3.9269908169872414 0" xyz="-0.049497474683058325 0 -0.049497474683058346"/>
  </joint>
  <joint name="hip_to_outer_leg_right_5" type="prismatic">
    <axis xyz="0 0 1"/>
    <parent link="hip_right_5"/>
    <child link="outer_leg_right_5"/>
    <limit effort="200.0" lower="0.0" upper="0.07" velocity="0.1"/>
    <origin rpy="0 0 0" xyz="0 0 0"/>
    <dynamics damping="100" friction="200"/>
  </joint>
  <gazebo reference="hip_to_outer_leg_right_5">
    <implicitSpringDamper>true</implicitSpringDamper>
  </gazebo>
  <joint name="outer_to_center_leg_right_5" type="prismatic">
    <axis xyz="0 0 1"/>
    <parent link="outer_leg_right_5"/>
    <child link="center_leg_right_5"/>
    <limit effort="200.0" lower="0.0" upper="0.07" velocity="0.1"/>
    <origin rpy="0 0 0" xyz="0 0 0"/>
    <dynamics damping="100" friction="200"/>
  </joint>
  <gazebo reference="outer_to_center_leg_right_5">
    <implicitSpringDamper>true</implicitSpringDamper>
  </gazebo>
  <joint name="center_to_inner_leg_right_5" type="prismatic">
    <axis xyz="0 0 1"/>
    <parent link="center_leg_right_5"/>
    <child link="inner_leg_right_5"/>
    <limit effort="200.0" lower="0.0" upper="0.07" velocity="0.1"/>
    <origin rpy="0 0 0" xyz="0 0 0"/>
    <dynamics damping="100" friction="200"/>
  </joint>
  <gazebo reference="center_to_inner_leg_right_5">
    <implicitSpringDamper>true</implicitSpringDamper>
  </gazebo>
  <transmission name="outer_leg_extension_right_5_trans" type="SimpleTransmission">
    <type>transmission_interface/SimpleTransmission</type>
    <actuator name="outer_leg_extension_right_5_motor">
      <hardwareInterface>hardware_interface/PositionJointInterface</hardwareInterface>
      <mechanicalReduction>1</mechanicalReduction>
    </actuator>
    <joint name="hip_to_outer_leg_right_5">
      <hardwareInterface>hardware_interface/PositionJointInterface</hardwareInterface>
    </joint>
  </transmission>
  <transmission name="center_leg_extension_right_5_trans" type="SimpleTransmission">
    <type>transmission_interface/SimpleTransmission</type>
    <actuator name="center_leg_extension_right_5_motor">
      <hardwareInterface>hardware_interface/PositionJointInterface</hardwareInterface>
      <mechanicalReduction>1</mechanicalReduction>
    </actuator>
    <joint name="outer_to_center_leg_right_5">
      <hardwareInterface>hardware_interface/PositionJointInterface</hardwareInterface>
    </joint>
  </transmission>
  <transmission name="inner_leg_extension_right_5_trans" type="SimpleTransmission">
    <type>transmission_interface/SimpleTransmission</type>
    <actuator name="inner_leg_extension_right_5_motor">
      <hardwareInterface>hardware_interface/PositionJointInterface</hardwareInterface>
      <mechanicalReduction>1</mechanicalReduction>
    </actuator>
    <joint name="center_to_inner_leg_right_5">
      <hardwareInterface>hardware_interface/PositionJointInterface</hardwareInterface>
    </joint>
  </transmission>
  <link name="hip_right_7">
    <visual>
      <geometry>
        <cylinder length="0.07" radius="0.01"/>
      </geometry>
      <material name="black"/>
    </visual>
    <collision>
      <geometry>
        <cylinder length="0.07" radius="0.01"/>
      </geometry>
    </collision>
    <inertial>
      <mass value="0.01"/>
      <inertia ixx="4.083333333333334e-06" ixy="0.0" ixz="0.0" iyy="0.0" iyz="0.0" izz="4.083333333333334e-06"/>
    </inertial>
  </link>
  <gazebo reference="hip_right_7">
    <material>Gazebo/Grey</material>
  </gazebo>
  <link name="outer_leg_right_7">
    <visual>
      <geometry>
        <cylinder length="0.07" radius="0.008"/>
      </geometry>
      <material name="black"/>
    </visual>
    <collision>
      <geometry>
        <cylinder length="0.07" radius="0.008"/>
      </geometry>
    </collision>
    <inertial>
      <mass value="0.008"/>
      <inertia ixx="3.2666666666666674e-06" ixy="0.0" ixz="0.0" iyy="0.0" iyz="0.0" izz="3.2666666666666674e-06"/>
    </inertial>
  </link>
  <gazebo reference="outer_leg_right_7">
    <material>Gazebo/Grey</material>
  </gazebo>
  <link name="center_leg_right_7">
    <visual>
      <geometry>
        <cylinder length="0.07" radius="0.006"/>
      </geometry>
      <material name="black"/>
    </visual>
    <collision>
      <geometry>
        <cylinder length="0.07" radius="0.006"/>
      </geometry>
    </collision>
    <inertial>
      <mass value="0.006"/>
      <inertia ixx="2.45e-06" ixy="0.0" ixz="0.0" iyy="2.45e-06" iyz="0.0" izz="0.0"/>
    </inertial>
  </link>
  <gazebo reference="center_leg_right_7">
    <material>Gazebo/Grey</material>
  </gazebo>
  <link name="inner_leg_right_7">
    <visual>
      <geometry>
        <cylinder length="0.07" radius="0.004"/>
      </geometry>
      <material name="black"/>
    </visual>
    <collision>
      <geometry>
        <cylinder length="0.07" radius="0.004"/>
      </geometry>
    </collision>
    <inertial>
      <mass value="0.004"/>
      <inertia ixx="1.6333333333333337e-06" ixy="0.0" ixz="0.0" iyy="1.6333333333333337e-06" iyz="0.0" izz="0.0"/>
    </inertial>
  </link>
  <gazebo reference="inner_leg_right_7">
    <material>Gazebo/Grey</material>
  </gazebo>
  <joint name="base_to_hip_right_7" type="fixed">
    <parent link="inner_outer_connector_right"/>
    <child link="hip_right_7"/>
    <origin rpy="0 5.497787143782138 0" xyz="-0.049497474683058346 0 0.04949747468305832"/>
  </joint>
  <joint name="hip_to_outer_leg_right_7" type="prismatic">
    <axis xyz="0 0 1"/>
    <parent link="hip_right_7"/>
    <child link="outer_leg_right_7"/>
    <limit effort="200.0" lower="0.0" upper="0.07" velocity="0.1"/>
    <origin rpy="0 0 0" xyz="0 0 0"/>
    <dynamics damping="100" friction="200"/>
  </joint>
  <gazebo reference="hip_to_outer_leg_right_7">
    <implicitSpringDamper>true</implicitSpringDamper>
  </gazebo>
  <joint name="outer_to_center_leg_right_7" type="prismatic">
    <axis xyz="0 0 1"/>
    <parent link="outer_leg_right_7"/>
    <child link="center_leg_right_7"/>
    <limit effort="200.0" lower="0.0" upper="0.07" velocity="0.1"/>
    <origin rpy="0 0 0" xyz="0 0 0"/>
    <dynamics damping="100" friction="200"/>
  </joint>
  <gazebo reference="outer_to_center_leg_right_7">
    <implicitSpringDamper>true</implicitSpringDamper>
  </gazebo>
  <joint name="center_to_inner_leg_right_7" type="prismatic">
    <axis xyz="0 0 1"/>
    <parent link="center_leg_right_7"/>
    <child link="inner_leg_right_7"/>
    <limit effort="200.0" lower="0.0" upper="0.07" velocity="0.1"/>
    <origin rpy="0 0 0" xyz="0 0 0"/>
    <dynamics damping="100" friction="200"/>
  </joint>
  <gazebo reference="center_to_inner_leg_right_7">
    <implicitSpringDamper>true</implicitSpringDamper>
  </gazebo>
  <transmission name="outer_leg_extension_right_7_trans" type="SimpleTransmission">
    <type>transmission_interface/SimpleTransmission</type>
    <actuator name="outer_leg_extension_right_7_motor">
      <hardwareInterface>hardware_interface/PositionJointInterface</hardwareInterface>
      <mechanicalReduction>1</mechanicalReduction>
    </actuator>
    <joint name="hip_to_outer_leg_right_7">
      <hardwareInterface>hardware_interface/PositionJointInterface</hardwareInterface>
    </joint>
  </transmission>
  <transmission name="center_leg_extension_right_7_trans" type="SimpleTransmission">
    <type>transmission_interface/SimpleTransmission</type>
    <actuator name="center_leg_extension_right_7_motor">
      <hardwareInterface>hardware_interface/PositionJointInterface</hardwareInterface>
      <mechanicalReduction>1</mechanicalReduction>
    </actuator>
    <joint name="outer_to_center_leg_right_7">
      <hardwareInterface>hardware_interface/PositionJointInterface</hardwareInterface>
    </joint>
  </transmission>
  <transmission name="inner_leg_extension_right_7_trans" type="SimpleTransmission">
    <type>transmission_interface/SimpleTransmission</type>
    <actuator name="inner_leg_extension_right_7_motor">
      <hardwareInterface>hardware_interface/PositionJointInterface</hardwareInterface>
      <mechanicalReduction>1</mechanicalReduction>
    </actuator>
    <joint name="center_to_inner_leg_right_7">
      <hardwareInterface>hardware_interface/PositionJointInterface</hardwareInterface>
    </joint>
  </transmission>
  <link name="hip_left_0">
    <visual>
      <geometry>
        <cylinder length="0.07" radius="0.01"/>
      </geometry>
      <material name="black"/>
    </visual>
    <collision>
      <geometry>
        <cylinder length="0.07" radius="0.01"/>
      </geometry>
    </collision>
    <inertial>
      <mass value="0.01"/>
      <inertia ixx="4.083333333333334e-06" ixy="0.0" ixz="0.0" iyy="0.0" iyz="0.0" izz="4.083333333333334e-06"/>
    </inertial>
  </link>
  <gazebo reference="hip_left_0">
    <material>Gazebo/Grey</material>
  </gazebo>
  <link name="outer_leg_left_0">
    <visual>
      <geometry>
        <cylinder length="0.07" radius="0.008"/>
      </geometry>
      <material name="black"/>
    </visual>
    <collision>
      <geometry>
        <cylinder length="0.07" radius="0.008"/>
      </geometry>
    </collision>
    <inertial>
      <mass value="0.008"/>
      <inertia ixx="3.2666666666666674e-06" ixy="0.0" ixz="0.0" iyy="0.0" iyz="0.0" izz="3.2666666666666674e-06"/>
    </inertial>
  </link>
  <gazebo reference="outer_leg_left_0">
    <material>Gazebo/Grey</material>
  </gazebo>
  <link name="center_leg_left_0">
    <visual>
      <geometry>
        <cylinder length="0.07" radius="0.006"/>
      </geometry>
      <material name="black"/>
    </visual>
    <collision>
      <geometry>
        <cylinder length="0.07" radius="0.006"/>
      </geometry>
    </collision>
    <inertial>
      <mass value="0.006"/>
      <inertia ixx="2.45e-06" ixy="0.0" ixz="0.0" iyy="2.45e-06" iyz="0.0" izz="0.0"/>
    </inertial>
  </link>
  <gazebo reference="center_leg_left_0">
    <material>Gazebo/Grey</material>
  </gazebo>
  <link name="inner_leg_left_0">
    <visual>
      <geometry>
        <cylinder length="0.07" radius="0.004"/>
      </geometry>
      <material name="black"/>
    </visual>
    <collision>
      <geometry>
        <cylinder length="0.07" radius="0.004"/>
      </geometry>
    </collision>
    <inertial>
      <mass value="0.004"/>
      <inertia ixx="1.6333333333333337e-06" ixy="0.0" ixz="0.0" iyy="1.6333333333333337e-06" iyz="0.0" izz="0.0"/>
    </inertial>
  </link>
  <gazebo reference="inner_leg_left_0">
    <material>Gazebo/Grey</material>
  </gazebo>
  <joint name="base_to_hip_left_0" type="fixed">
    <parent link="inner_outer_connector_left"/>
    <child link="hip_left_0"/>
    <origin rpy="0 0.0 0" xyz="0.0 0 0.07"/>
  </joint>
  <joint name="hip_to_outer_leg_left_0" type="prismatic">
    <axis xyz="0 0 1"/>
    <parent link="hip_left_0"/>
    <child link="outer_leg_left_0"/>
    <limit effort="200.0" lower="0.0" upper="0.07" velocity="0.1"/>
    <origin rpy="0 0 0" xyz="0 0 0"/>
    <dynamics damping="100" friction="200"/>
  </joint>
  <gazebo reference="hip_to_outer_leg_left_0">
    <implicitSpringDamper>true</implicitSpringDamper>
  </gazebo>
  <joint name="outer_to_center_leg_left_0" type="prismatic">
    <axis xyz="0 0 1"/>
    <parent link="outer_leg_left_0"/>
    <child link="center_leg_left_0"/>
    <limit effort="200.0" lower="0.0" upper="0.07" velocity="0.1"/>
    <origin rpy="0 0 0" xyz="0 0 0"/>
    <dynamics damping="100" friction="200"/>
  </joint>
  <gazebo reference="outer_to_center_leg_left_0">
    <implicitSpringDamper>true</implicitSpringDamper>
  </gazebo>
  <joint name="center_to_inner_leg_left_0" type="prismatic">
    <axis xyz="0 0 1"/>
    <parent link="center_leg_left_0"/>
    <child link="inner_leg_left_0"/>
    <limit effort="200.0" lower="0.0" upper="0.07" velocity="0.1"/>
    <origin rpy="0 0 0" xyz="0 0 0"/>
    <dynamics damping="100" friction="200"/>
  </joint>
  <gazebo reference="center_to_inner_leg_left_0">
    <implicitSpringDamper>true</implicitSpringDamper>
  </gazebo>
  <transmission name="outer_leg_extension_left_0_trans" type="SimpleTransmission">
    <type>transmission_interface/SimpleTransmission</type>
    <actuator name="outer_leg_extension_left_0_motor">
      <hardwareInterface>hardware_interface/PositionJointInterface</hardwareInterface>
      <mechanicalReduction>1</mechanicalReduction>
    </actuator>
    <joint name="hip_to_outer_leg_left_0">
      <hardwareInterface>hardware_interface/PositionJointInterface</hardwareInterface>
    </joint>
  </transmission>
  <transmission name="center_leg_extension_left_0_trans" type="SimpleTransmission">
    <type>transmission_interface/SimpleTransmission</type>
    <actuator name="center_leg_extension_left_0_motor">
      <hardwareInterface>hardware_interface/PositionJointInterface</hardwareInterface>
      <mechanicalReduction>1</mechanicalReduction>
    </actuator>
    <joint name="outer_to_center_leg_left_0">
      <hardwareInterface>hardware_interface/PositionJointInterface</hardwareInterface>
    </joint>
  </transmission>
  <transmission name="inner_leg_extension_left_0_trans" type="SimpleTransmission">
    <type>transmission_interface/SimpleTransmission</type>
    <actuator name="inner_leg_extension_left_0_motor">
      <hardwareInterface>hardware_interface/PositionJointInterface</hardwareInterface>
      <mechanicalReduction>1</mechanicalReduction>
    </actuator>
    <joint name="center_to_inner_leg_left_0">
      <hardwareInterface>hardware_interface/PositionJointInterface</hardwareInterface>
    </joint>
  </transmission>
  <link name="hip_left_2">
    <visual>
      <geometry>
        <cylinder length="0.07" radius="0.01"/>
      </geometry>
      <material name="black"/>
    </visual>
    <collision>
      <geometry>
        <cylinder length="0.07" radius="0.01"/>
      </geometry>
    </collision>
    <inertial>
      <mass value="0.01"/>
      <inertia ixx="4.083333333333334e-06" ixy="0.0" ixz="0.0" iyy="0.0" iyz="0.0" izz="4.083333333333334e-06"/>
    </inertial>
  </link>
  <gazebo reference="hip_left_2">
    <material>Gazebo/Grey</material>
  </gazebo>
  <link name="outer_leg_left_2">
    <visual>
      <geometry>
        <cylinder length="0.07" radius="0.008"/>
      </geometry>
      <material name="black"/>
    </visual>
    <collision>
      <geometry>
        <cylinder length="0.07" radius="0.008"/>
      </geometry>
    </collision>
    <inertial>
      <mass value="0.008"/>
      <inertia ixx="3.2666666666666674e-06" ixy="0.0" ixz="0.0" iyy="0.0" iyz="0.0" izz="3.2666666666666674e-06"/>
    </inertial>
  </link>
  <gazebo reference="outer_leg_left_2">
    <material>Gazebo/Grey</material>
  </gazebo>
  <link name="center_leg_left_2">
    <visual>
      <geometry>
        <cylinder length="0.07" radius="0.006"/>
      </geometry>
      <material name="black"/>
    </visual>
    <collision>
      <geometry>
        <cylinder length="0.07" radius="0.006"/>
      </geometry>
    </collision>
    <inertial>
      <mass value="0.006"/>
      <inertia ixx="2.45e-06" ixy="0.0" ixz="0.0" iyy="2.45e-06" iyz="0.0" izz="0.0"/>
    </inertial>
  </link>
  <gazebo reference="center_leg_left_2">
    <material>Gazebo/Grey</material>
  </gazebo>
  <link name="inner_leg_left_2">
    <visual>
      <geometry>
        <cylinder length="0.07" radius="0.004"/>
      </geometry>
      <material name="black"/>
    </visual>
    <collision>
      <geometry>
        <cylinder length="0.07" radius="0.004"/>
      </geometry>
    </collision>
    <inertial>
      <mass value="0.004"/>
      <inertia ixx="1.6333333333333337e-06" ixy="0.0" ixz="0.0" iyy="1.6333333333333337e-06" iyz="0.0" izz="0.0"/>
    </inertial>
  </link>
  <gazebo reference="inner_leg_left_2">
    <material>Gazebo/Grey</material>
  </gazebo>
  <joint name="base_to_hip_left_2" type="fixed">
    <parent link="inner_outer_connector_left"/>
    <child link="hip_left_2"/>
    <origin rpy="0 1.5707963267948966 0" xyz="0.07 0 4.286263797015737e-18"/>
  </joint>
  <joint name="hip_to_outer_leg_left_2" type="prismatic">
    <axis xyz="0 0 1"/>
    <parent link="hip_left_2"/>
    <child link="outer_leg_left_2"/>
    <limit effort="200.0" lower="0.0" upper="0.07" velocity="0.1"/>
    <origin rpy="0 0 0" xyz="0 0 0"/>
    <dynamics damping="100" friction="200"/>
  </joint>
  <gazebo reference="hip_to_outer_leg_left_2">
    <implicitSpringDamper>true</implicitSpringDamper>
  </gazebo>
  <joint name="outer_to_center_leg_left_2" type="prismatic">
    <axis xyz="0 0 1"/>
    <parent link="outer_leg_left_2"/>
    <child link="center_leg_left_2"/>
    <limit effort="200.0" lower="0.0" upper="0.07" velocity="0.1"/>
    <origin rpy="0 0 0" xyz="0 0 0"/>
    <dynamics damping="100" friction="200"/>
  </joint>
  <gazebo reference="outer_to_center_leg_left_2">
    <implicitSpringDamper>true</implicitSpringDamper>
  </gazebo>
  <joint name="center_to_inner_leg_left_2" type="prismatic">
    <axis xyz="0 0 1"/>
    <parent link="center_leg_left_2"/>
    <child link="inner_leg_left_2"/>
    <limit effort="200.0" lower="0.0" upper="0.07" velocity="0.1"/>
    <origin rpy="0 0 0" xyz="0 0 0"/>
    <dynamics damping="100" friction="200"/>
  </joint>
  <gazebo reference="center_to_inner_leg_left_2">
    <implicitSpringDamper>true</implicitSpringDamper>
  </gazebo>
  <transmission name="outer_leg_extension_left_2_trans" type="SimpleTransmission">
    <type>transmission_interface/SimpleTransmission</type>
    <actuator name="outer_leg_extension_left_2_motor">
      <hardwareInterface>hardware_interface/PositionJointInterface</hardwareInterface>
      <mechanicalReduction>1</mechanicalReduction>
    </actuator>
    <joint name="hip_to_outer_leg_left_2">
      <hardwareInterface>hardware_interface/PositionJointInterface</hardwareInterface>
    </joint>
  </transmission>
  <transmission name="center_leg_extension_left_2_trans" type="SimpleTransmission">
    <type>transmission_interface/SimpleTransmission</type>
    <actuator name="center_leg_extension_left_2_motor">
      <hardwareInterface>hardware_interface/PositionJointInterface</hardwareInterface>
      <mechanicalReduction>1</mechanicalReduction>
    </actuator>
    <joint name="outer_to_center_leg_left_2">
      <hardwareInterface>hardware_interface/PositionJointInterface</hardwareInterface>
    </joint>
  </transmission>
  <transmission name="inner_leg_extension_left_2_trans" type="SimpleTransmission">
    <type>transmission_interface/SimpleTransmission</type>
    <actuator name="inner_leg_extension_left_2_motor">
      <hardwareInterface>hardware_interface/PositionJointInterface</hardwareInterface>
      <mechanicalReduction>1</mechanicalReduction>
    </actuator>
    <joint name="center_to_inner_leg_left_2">
      <hardwareInterface>hardware_interface/PositionJointInterface</hardwareInterface>
    </joint>
  </transmission>
  <link name="hip_left_4">
    <visual>
      <geometry>
        <cylinder length="0.07" radius="0.01"/>
      </geometry>
      <material name="black"/>
    </visual>
    <collision>
      <geometry>
        <cylinder length="0.07" radius="0.01"/>
      </geometry>
    </collision>
    <inertial>
      <mass value="0.01"/>
      <inertia ixx="4.083333333333334e-06" ixy="0.0" ixz="0.0" iyy="0.0" iyz="0.0" izz="4.083333333333334e-06"/>
    </inertial>
  </link>
  <gazebo reference="hip_left_4">
    <material>Gazebo/Grey</material>
  </gazebo>
  <link name="outer_leg_left_4">
    <visual>
      <geometry>
        <cylinder length="0.07" radius="0.008"/>
      </geometry>
      <material name="black"/>
    </visual>
    <collision>
      <geometry>
        <cylinder length="0.07" radius="0.008"/>
      </geometry>
    </collision>
    <inertial>
      <mass value="0.008"/>
      <inertia ixx="3.2666666666666674e-06" ixy="0.0" ixz="0.0" iyy="0.0" iyz="0.0" izz="3.2666666666666674e-06"/>
    </inertial>
  </link>
  <gazebo reference="outer_leg_left_4">
    <material>Gazebo/Grey</material>
  </gazebo>
  <link name="center_leg_left_4">
    <visual>
      <geometry>
        <cylinder length="0.07" radius="0.006"/>
      </geometry>
      <material name="black"/>
    </visual>
    <collision>
      <geometry>
        <cylinder length="0.07" radius="0.006"/>
      </geometry>
    </collision>
    <inertial>
      <mass value="0.006"/>
      <inertia ixx="2.45e-06" ixy="0.0" ixz="0.0" iyy="2.45e-06" iyz="0.0" izz="0.0"/>
    </inertial>
  </link>
  <gazebo reference="center_leg_left_4">
    <material>Gazebo/Grey</material>
  </gazebo>
  <link name="inner_leg_left_4">
    <visual>
      <geometry>
        <cylinder length="0.07" radius="0.004"/>
      </geometry>
      <material name="black"/>
    </visual>
    <collision>
      <geometry>
        <cylinder length="0.07" radius="0.004"/>
      </geometry>
    </collision>
    <inertial>
      <mass value="0.004"/>
      <inertia ixx="1.6333333333333337e-06" ixy="0.0" ixz="0.0" iyy="1.6333333333333337e-06" iyz="0.0" izz="0.0"/>
    </inertial>
  </link>
  <gazebo reference="inner_leg_left_4">
    <material>Gazebo/Grey</material>
  </gazebo>
  <joint name="base_to_hip_left_4" type="fixed">
    <parent link="inner_outer_connector_left"/>
    <child link="hip_left_4"/>
    <origin rpy="0 3.141592653589793 0" xyz="8.572527594031473e-18 0 -0.07"/>
  </joint>
  <joint name="hip_to_outer_leg_left_4" type="prismatic">
    <axis xyz="0 0 1"/>
    <parent link="hip_left_4"/>
    <child link="outer_leg_left_4"/>
    <limit effort="200.0" lower="0.0" upper="0.07" velocity="0.1"/>
    <origin rpy="0 0 0" xyz="0 0 0"/>
    <dynamics damping="100" friction="200"/>
  </joint>
  <gazebo reference="hip_to_outer_leg_left_4">
    <implicitSpringDamper>true</implicitSpringDamper>
  </gazebo>
  <joint name="outer_to_center_leg_left_4" type="prismatic">
    <axis xyz="0 0 1"/>
    <parent link="outer_leg_left_4"/>
    <child link="center_leg_left_4"/>
    <limit effort="200.0" lower="0.0" upper="0.07" velocity="0.1"/>
    <origin rpy="0 0 0" xyz="0 0 0"/>
    <dynamics damping="100" friction="200"/>
  </joint>
  <gazebo reference="outer_to_center_leg_left_4">
    <implicitSpringDamper>true</implicitSpringDamper>
  </gazebo>
  <joint name="center_to_inner_leg_left_4" type="prismatic">
    <axis xyz="0 0 1"/>
    <parent link="center_leg_left_4"/>
    <child link="inner_leg_left_4"/>
    <limit effort="200.0" lower="0.0" upper="0.07" velocity="0.1"/>
    <origin rpy="0 0 0" xyz="0 0 0"/>
    <dynamics damping="100" friction="200"/>
  </joint>
  <gazebo reference="center_to_inner_leg_left_4">
    <implicitSpringDamper>true</implicitSpringDamper>
  </gazebo>
  <transmission name="outer_leg_extension_left_4_trans" type="SimpleTransmission">
    <type>transmission_interface/SimpleTransmission</type>
    <actuator name="outer_leg_extension_left_4_motor">
      <hardwareInterface>hardware_interface/PositionJointInterface</hardwareInterface>
      <mechanicalReduction>1</mechanicalReduction>
    </actuator>
    <joint name="hip_to_outer_leg_left_4">
      <hardwareInterface>hardware_interface/PositionJointInterface</hardwareInterface>
    </joint>
  </transmission>
  <transmission name="center_leg_extension_left_4_trans" type="SimpleTransmission">
    <type>transmission_interface/SimpleTransmission</type>
    <actuator name="center_leg_extension_left_4_motor">
      <hardwareInterface>hardware_interface/PositionJointInterface</hardwareInterface>
      <mechanicalReduction>1</mechanicalReduction>
    </actuator>
    <joint name="outer_to_center_leg_left_4">
      <hardwareInterface>hardware_interface/PositionJointInterface</hardwareInterface>
    </joint>
  </transmission>
  <transmission name="inner_leg_extension_left_4_trans" type="SimpleTransmission">
    <type>transmission_interface/SimpleTransmission</type>
    <actuator name="inner_leg_extension_left_4_motor">
      <hardwareInterface>hardware_interface/PositionJointInterface</hardwareInterface>
      <mechanicalReduction>1</mechanicalReduction>
    </actuator>
    <joint name="center_to_inner_leg_left_4">
      <hardwareInterface>hardware_interface/PositionJointInterface</hardwareInterface>
    </joint>
  </transmission>
  <link name="hip_left_6">
    <visual>
      <geometry>
        <cylinder length="0.07" radius="0.01"/>
      </geometry>
      <material name="black"/>
    </visual>
    <collision>
      <geometry>
        <cylinder length="0.07" radius="0.01"/>
      </geometry>
    </collision>
    <inertial>
      <mass value="0.01"/>
      <inertia ixx="4.083333333333334e-06" ixy="0.0" ixz="0.0" iyy="0.0" iyz="0.0" izz="4.083333333333334e-06"/>
    </inertial>
  </link>
  <gazebo reference="hip_left_6">
    <material>Gazebo/Grey</material>
  </gazebo>
  <link name="outer_leg_left_6">
    <visual>
      <geometry>
        <cylinder length="0.07" radius="0.008"/>
      </geometry>
      <material name="black"/>
    </visual>
    <collision>
      <geometry>
        <cylinder length="0.07" radius="0.008"/>
      </geometry>
    </collision>
    <inertial>
      <mass value="0.008"/>
      <inertia ixx="3.2666666666666674e-06" ixy="0.0" ixz="0.0" iyy="0.0" iyz="0.0" izz="3.2666666666666674e-06"/>
    </inertial>
  </link>
  <gazebo reference="outer_leg_left_6">
    <material>Gazebo/Grey</material>
  </gazebo>
  <link name="center_leg_left_6">
    <visual>
      <geometry>
        <cylinder length="0.07" radius="0.006"/>
      </geometry>
      <material name="black"/>
    </visual>
    <collision>
      <geometry>
        <cylinder length="0.07" radius="0.006"/>
      </geometry>
    </collision>
    <inertial>
      <mass value="0.006"/>
      <inertia ixx="2.45e-06" ixy="0.0" ixz="0.0" iyy="2.45e-06" iyz="0.0" izz="0.0"/>
    </inertial>
  </link>
  <gazebo reference="center_leg_left_6">
    <material>Gazebo/Grey</material>
  </gazebo>
  <link name="inner_leg_left_6">
    <visual>
      <geometry>
        <cylinder length="0.07" radius="0.004"/>
      </geometry>
      <material name="black"/>
    </visual>
    <collision>
      <geometry>
        <cylinder length="0.07" radius="0.004"/>
      </geometry>
    </collision>
    <inertial>
      <mass value="0.004"/>
      <inertia ixx="1.6333333333333337e-06" ixy="0.0" ixz="0.0" iyy="1.6333333333333337e-06" iyz="0.0" izz="0.0"/>
    </inertial>
  </link>
  <gazebo reference="inner_leg_left_6">
    <material>Gazebo/Grey</material>
  </gazebo>
  <joint name="base_to_hip_left_6" type="fixed">
    <parent link="inner_outer_connector_left"/>
    <child link="hip_left_6"/>
    <origin rpy="0 4.71238898038469 0" xyz="-0.07 0 -1.285879139104721e-17"/>
  </joint>
  <joint name="hip_to_outer_leg_left_6" type="prismatic">
    <axis xyz="0 0 1"/>
    <parent link="hip_left_6"/>
    <child link="outer_leg_left_6"/>
    <limit effort="200.0" lower="0.0" upper="0.07" velocity="0.1"/>
    <origin rpy="0 0 0" xyz="0 0 0"/>
    <dynamics damping="100" friction="200"/>
  </joint>
  <gazebo reference="hip_to_outer_leg_left_6">
    <implicitSpringDamper>true</implicitSpringDamper>
  </gazebo>
  <joint name="outer_to_center_leg_left_6" type="prismatic">
    <axis xyz="0 0 1"/>
    <parent link="outer_leg_left_6"/>
    <child link="center_leg_left_6"/>
    <limit effort="200.0" lower="0.0" upper="0.07" velocity="0.1"/>
    <origin rpy="0 0 0" xyz="0 0 0"/>
    <dynamics damping="100" friction="200"/>
  </joint>
  <gazebo reference="outer_to_center_leg_left_6">
    <implicitSpringDamper>true</implicitSpringDamper>
  </gazebo>
  <joint name="center_to_inner_leg_left_6" type="prismatic">
    <axis xyz="0 0 1"/>
    <parent link="center_leg_left_6"/>
    <child link="inner_leg_left_6"/>
    <limit effort="200.0" lower="0.0" upper="0.07" velocity="0.1"/>
    <origin rpy="0 0 0" xyz="0 0 0"/>
    <dynamics damping="100" friction="200"/>
  </joint>
  <gazebo reference="center_to_inner_leg_left_6">
    <implicitSpringDamper>true</implicitSpringDamper>
  </gazebo>
  <transmission name="outer_leg_extension_left_6_trans" type="SimpleTransmission">
    <type>transmission_interface/SimpleTransmission</type>
    <actuator name="outer_leg_extension_left_6_motor">
      <hardwareInterface>hardware_interface/PositionJointInterface</hardwareInterface>
      <mechanicalReduction>1</mechanicalReduction>
    </actuator>
    <joint name="hip_to_outer_leg_left_6">
      <hardwareInterface>hardware_interface/PositionJointInterface</hardwareInterface>
    </joint>
  </transmission>
  <transmission name="center_leg_extension_left_6_trans" type="SimpleTransmission">
    <type>transmission_interface/SimpleTransmission</type>
    <actuator name="center_leg_extension_left_6_motor">
      <hardwareInterface>hardware_interface/PositionJointInterface</hardwareInterface>
      <mechanicalReduction>1</mechanicalReduction>
    </actuator>
    <joint name="outer_to_center_leg_left_6">
      <hardwareInterface>hardware_interface/PositionJointInterface</hardwareInterface>
    </joint>
  </transmission>
  <transmission name="inner_leg_extension_left_6_trans" type="SimpleTransmission">
    <type>transmission_interface/SimpleTransmission</type>
    <actuator name="inner_leg_extension_left_6_motor">
      <hardwareInterface>hardware_interface/PositionJointInterface</hardwareInterface>
      <mechanicalReduction>1</mechanicalReduction>
    </actuator>
    <joint name="center_to_inner_leg_left_6">
      <hardwareInterface>hardware_interface/PositionJointInterface</hardwareInterface>
    </joint>
  </transmission>
  <link name="hip_left_1">
    <visual>
      <geometry>
        <cylinder length="0.07" radius="0.01"/>
      </geometry>
      <material name="black"/>
    </visual>
    <collision>
      <geometry>
        <cylinder length="0.07" radius="0.01"/>
      </geometry>
    </collision>
    <inertial>
      <mass value="0.01"/>
      <inertia ixx="4.083333333333334e-06" ixy="0.0" ixz="0.0" iyy="0.0" iyz="0.0" izz="4.083333333333334e-06"/>
    </inertial>
  </link>
  <gazebo reference="hip_left_1">
    <material>Gazebo/Grey</material>
  </gazebo>
  <link name="outer_leg_left_1">
    <visual>
      <geometry>
        <cylinder length="0.07" radius="0.008"/>
      </geometry>
      <material name="black"/>
    </visual>
    <collision>
      <geometry>
        <cylinder length="0.07" radius="0.008"/>
      </geometry>
    </collision>
    <inertial>
      <mass value="0.008"/>
      <inertia ixx="3.2666666666666674e-06" ixy="0.0" ixz="0.0" iyy="0.0" iyz="0.0" izz="3.2666666666666674e-06"/>
    </inertial>
  </link>
  <gazebo reference="outer_leg_left_1">
    <material>Gazebo/Grey</material>
  </gazebo>
  <link name="center_leg_left_1">
    <visual>
      <geometry>
        <cylinder length="0.07" radius="0.006"/>
      </geometry>
      <material name="black"/>
    </visual>
    <collision>
      <geometry>
        <cylinder length="0.07" radius="0.006"/>
      </geometry>
    </collision>
    <inertial>
      <mass value="0.006"/>
      <inertia ixx="2.45e-06" ixy="0.0" ixz="0.0" iyy="2.45e-06" iyz="0.0" izz="0.0"/>
    </inertial>
  </link>
  <gazebo reference="center_leg_left_1">
    <material>Gazebo/Grey</material>
  </gazebo>
  <link name="inner_leg_left_1">
    <visual>
      <geometry>
        <cylinder length="0.07" radius="0.004"/>
      </geometry>
      <material name="black"/>
    </visual>
    <collision>
      <geometry>
        <cylinder length="0.07" radius="0.004"/>
      </geometry>
    </collision>
    <inertial>
      <mass value="0.004"/>
      <inertia ixx="1.6333333333333337e-06" ixy="0.0" ixz="0.0" iyy="1.6333333333333337e-06" iyz="0.0" izz="0.0"/>
    </inertial>
  </link>
  <gazebo reference="inner_leg_left_1">
    <material>Gazebo/Grey</material>
  </gazebo>
  <joint name="base_to_hip_left_1" type="fixed">
    <parent link="inner_outer_connector_left"/>
    <child link="hip_left_1"/>
    <origin rpy="0 0.7853981633974483 0" xyz="0.049497474683058325 0 0.04949747468305833"/>
  </joint>
  <joint name="hip_to_outer_leg_left_1" type="prismatic">
    <axis xyz="0 0 1"/>
    <parent link="hip_left_1"/>
    <child link="outer_leg_left_1"/>
    <limit effort="200.0" lower="0.0" upper="0.07" velocity="0.1"/>
    <origin rpy="0 0 0" xyz="0 0 0"/>
    <dynamics damping="100" friction="200"/>
  </joint>
  <gazebo reference="hip_to_outer_leg_left_1">
    <implicitSpringDamper>true</implicitSpringDamper>
  </gazebo>
  <joint name="outer_to_center_leg_left_1" type="prismatic">
    <axis xyz="0 0 1"/>
    <parent link="outer_leg_left_1"/>
    <child link="center_leg_left_1"/>
    <limit effort="200.0" lower="0.0" upper="0.07" velocity="0.1"/>
    <origin rpy="0 0 0" xyz="0 0 0"/>
    <dynamics damping="100" friction="200"/>
  </joint>
  <gazebo reference="outer_to_center_leg_left_1">
    <implicitSpringDamper>true</implicitSpringDamper>
  </gazebo>
  <joint name="center_to_inner_leg_left_1" type="prismatic">
    <axis xyz="0 0 1"/>
    <parent link="center_leg_left_1"/>
    <child link="inner_leg_left_1"/>
    <limit effort="200.0" lower="0.0" upper="0.07" velocity="0.1"/>
    <origin rpy="0 0 0" xyz="0 0 0"/>
    <dynamics damping="100" friction="200"/>
  </joint>
  <gazebo reference="center_to_inner_leg_left_1">
    <implicitSpringDamper>true</implicitSpringDamper>
  </gazebo>
  <transmission name="outer_leg_extension_left_1_trans" type="SimpleTransmission">
    <type>transmission_interface/SimpleTransmission</type>
    <actuator name="outer_leg_extension_left_1_motor">
      <hardwareInterface>hardware_interface/PositionJointInterface</hardwareInterface>
      <mechanicalReduction>1</mechanicalReduction>
    </actuator>
    <joint name="hip_to_outer_leg_left_1">
      <hardwareInterface>hardware_interface/PositionJointInterface</hardwareInterface>
    </joint>
  </transmission>
  <transmission name="center_leg_extension_left_1_trans" type="SimpleTransmission">
    <type>transmission_interface/SimpleTransmission</type>
    <actuator name="center_leg_extension_left_1_motor">
      <hardwareInterface>hardware_interface/PositionJointInterface</hardwareInterface>
      <mechanicalReduction>1</mechanicalReduction>
    </actuator>
    <joint name="outer_to_center_leg_left_1">
      <hardwareInterface>hardware_interface/PositionJointInterface</hardwareInterface>
    </joint>
  </transmission>
  <transmission name="inner_leg_extension_left_1_trans" type="SimpleTransmission">
    <type>transmission_interface/SimpleTransmission</type>
    <actuator name="inner_leg_extension_left_1_motor">
      <hardwareInterface>hardware_interface/PositionJointInterface</hardwareInterface>
      <mechanicalReduction>1</mechanicalReduction>
    </actuator>
    <joint name="center_to_inner_leg_left_1">
      <hardwareInterface>hardware_interface/PositionJointInterface</hardwareInterface>
    </joint>
  </transmission>
  <link name="hip_left_3">
    <visual>
      <geometry>
        <cylinder length="0.07" radius="0.01"/>
      </geometry>
      <material name="black"/>
    </visual>
    <collision>
      <geometry>
        <cylinder length="0.07" radius="0.01"/>
      </geometry>
    </collision>
    <inertial>
      <mass value="0.01"/>
      <inertia ixx="4.083333333333334e-06" ixy="0.0" ixz="0.0" iyy="0.0" iyz="0.0" izz="4.083333333333334e-06"/>
    </inertial>
  </link>
  <gazebo reference="hip_left_3">
    <material>Gazebo/Grey</material>
  </gazebo>
  <link name="outer_leg_left_3">
    <visual>
      <geometry>
        <cylinder length="0.07" radius="0.008"/>
      </geometry>
      <material name="black"/>
    </visual>
    <collision>
      <geometry>
        <cylinder length="0.07" radius="0.008"/>
      </geometry>
    </collision>
    <inertial>
      <mass value="0.008"/>
      <inertia ixx="3.2666666666666674e-06" ixy="0.0" ixz="0.0" iyy="0.0" iyz="0.0" izz="3.2666666666666674e-06"/>
    </inertial>
  </link>
  <gazebo reference="outer_leg_left_3">
    <material>Gazebo/Grey</material>
  </gazebo>
  <link name="center_leg_left_3">
    <visual>
      <geometry>
        <cylinder length="0.07" radius="0.006"/>
      </geometry>
      <material name="black"/>
    </visual>
    <collision>
      <geometry>
        <cylinder length="0.07" radius="0.006"/>
      </geometry>
    </collision>
    <inertial>
      <mass value="0.006"/>
      <inertia ixx="2.45e-06" ixy="0.0" ixz="0.0" iyy="2.45e-06" iyz="0.0" izz="0.0"/>
    </inertial>
  </link>
  <gazebo reference="center_leg_left_3">
    <material>Gazebo/Grey</material>
  </gazebo>
  <link name="inner_leg_left_3">
    <visual>
      <geometry>
        <cylinder length="0.07" radius="0.004"/>
      </geometry>
      <material name="black"/>
    </visual>
    <collision>
      <geometry>
        <cylinder length="0.07" radius="0.004"/>
      </geometry>
    </collision>
    <inertial>
      <mass value="0.004"/>
      <inertia ixx="1.6333333333333337e-06" ixy="0.0" ixz="0.0" iyy="1.6333333333333337e-06" iyz="0.0" izz="0.0"/>
    </inertial>
  </link>
  <gazebo reference="inner_leg_left_3">
    <material>Gazebo/Grey</material>
  </gazebo>
  <joint name="base_to_hip_left_3" type="fixed">
    <parent link="inner_outer_connector_left"/>
    <child link="hip_left_3"/>
    <origin rpy="0 2.356194490192345 0" xyz="0.04949747468305833 0 -0.049497474683058325"/>
  </joint>
  <joint name="hip_to_outer_leg_left_3" type="prismatic">
    <axis xyz="0 0 1"/>
    <parent link="hip_left_3"/>
    <child link="outer_leg_left_3"/>
    <limit effort="200.0" lower="0.0" upper="0.07" velocity="0.1"/>
    <origin rpy="0 0 0" xyz="0 0 0"/>
    <dynamics damping="100" friction="200"/>
  </joint>
  <gazebo reference="hip_to_outer_leg_left_3">
    <implicitSpringDamper>true</implicitSpringDamper>
  </gazebo>
  <joint name="outer_to_center_leg_left_3" type="prismatic">
    <axis xyz="0 0 1"/>
    <parent link="outer_leg_left_3"/>
    <child link="center_leg_left_3"/>
    <limit effort="200.0" lower="0.0" upper="0.07" velocity="0.1"/>
    <origin rpy="0 0 0" xyz="0 0 0"/>
    <dynamics damping="100" friction="200"/>
  </joint>
  <gazebo reference="outer_to_center_leg_left_3">
    <implicitSpringDamper>true</implicitSpringDamper>
  </gazebo>
  <joint name="center_to_inner_leg_left_3" type="prismatic">
    <axis xyz="0 0 1"/>
    <parent link="center_leg_left_3"/>
    <child link="inner_leg_left_3"/>
    <limit effort="200.0" lower="0.0" upper="0.07" velocity="0.1"/>
    <origin rpy="0 0 0" xyz="0 0 0"/>
    <dynamics damping="100" friction="200"/>
  </joint>
  <gazebo reference="center_to_inner_leg_left_3">
    <implicitSpringDamper>true</implicitSpringDamper>
  </gazebo>
  <transmission name="outer_leg_extension_left_3_trans" type="SimpleTransmission">
    <type>transmission_interface/SimpleTransmission</type>
    <actuator name="outer_leg_extension_left_3_motor">
      <hardwareInterface>hardware_interface/PositionJointInterface</hardwareInterface>
      <mechanicalReduction>1</mechanicalReduction>
    </actuator>
    <joint name="hip_to_outer_leg_left_3">
      <hardwareInterface>hardware_interface/PositionJointInterface</hardwareInterface>
    </joint>
  </transmission>
  <transmission name="center_leg_extension_left_3_trans" type="SimpleTransmission">
    <type>transmission_interface/SimpleTransmission</type>
    <actuator name="center_leg_extension_left_3_motor">
      <hardwareInterface>hardware_interface/PositionJointInterface</hardwareInterface>
      <mechanicalReduction>1</mechanicalReduction>
    </actuator>
    <joint name="outer_to_center_leg_left_3">
      <hardwareInterface>hardware_interface/PositionJointInterface</hardwareInterface>
    </joint>
  </transmission>
  <transmission name="inner_leg_extension_left_3_trans" type="SimpleTransmission">
    <type>transmission_interface/SimpleTransmission</type>
    <actuator name="inner_leg_extension_left_3_motor">
      <hardwareInterface>hardware_interface/PositionJointInterface</hardwareInterface>
      <mechanicalReduction>1</mechanicalReduction>
    </actuator>
    <joint name="center_to_inner_leg_left_3">
      <hardwareInterface>hardware_interface/PositionJointInterface</hardwareInterface>
    </joint>
  </transmission>
  <link name="hip_left_5">
    <visual>
      <geometry>
        <cylinder length="0.07" radius="0.01"/>
      </geometry>
      <material name="black"/>
    </visual>
    <collision>
      <geometry>
        <cylinder length="0.07" radius="0.01"/>
      </geometry>
    </collision>
    <inertial>
      <mass value="0.01"/>
      <inertia ixx="4.083333333333334e-06" ixy="0.0" ixz="0.0" iyy="0.0" iyz="0.0" izz="4.083333333333334e-06"/>
    </inertial>
  </link>
  <gazebo reference="hip_left_5">
    <material>Gazebo/Grey</material>
  </gazebo>
  <link name="outer_leg_left_5">
    <visual>
      <geometry>
        <cylinder length="0.07" radius="0.008"/>
      </geometry>
      <material name="black"/>
    </visual>
    <collision>
      <geometry>
        <cylinder length="0.07" radius="0.008"/>
      </geometry>
    </collision>
    <inertial>
      <mass value="0.008"/>
      <inertia ixx="3.2666666666666674e-06" ixy="0.0" ixz="0.0" iyy="0.0" iyz="0.0" izz="3.2666666666666674e-06"/>
    </inertial>
  </link>
  <gazebo reference="outer_leg_left_5">
    <material>Gazebo/Grey</material>
  </gazebo>
  <link name="center_leg_left_5">
    <visual>
      <geometry>
        <cylinder length="0.07" radius="0.006"/>
      </geometry>
      <material name="black"/>
    </visual>
    <collision>
      <geometry>
        <cylinder length="0.07" radius="0.006"/>
      </geometry>
    </collision>
    <inertial>
      <mass value="0.006"/>
      <inertia ixx="2.45e-06" ixy="0.0" ixz="0.0" iyy="2.45e-06" iyz="0.0" izz="0.0"/>
    </inertial>
  </link>
  <gazebo reference="center_leg_left_5">
    <material>Gazebo/Grey</material>
  </gazebo>
  <link name="inner_leg_left_5">
    <visual>
      <geometry>
        <cylinder length="0.07" radius="0.004"/>
      </geometry>
      <material name="black"/>
    </visual>
    <collision>
      <geometry>
        <cylinder length="0.07" radius="0.004"/>
      </geometry>
    </collision>
    <inertial>
      <mass value="0.004"/>
      <inertia ixx="1.6333333333333337e-06" ixy="0.0" ixz="0.0" iyy="1.6333333333333337e-06" iyz="0.0" izz="0.0"/>
    </inertial>
  </link>
  <gazebo reference="inner_leg_left_5">
    <material>Gazebo/Grey</material>
  </gazebo>
  <joint name="base_to_hip_left_5" type="fixed">
    <parent link="inner_outer_connector_left"/>
    <child link="hip_left_5"/>
    <origin rpy="0 3.9269908169872414 0" xyz="-0.049497474683058325 0 -0.049497474683058346"/>
  </joint>
  <joint name="hip_to_outer_leg_left_5" type="prismatic">
    <axis xyz="0 0 1"/>
    <parent link="hip_left_5"/>
    <child link="outer_leg_left_5"/>
    <limit effort="200.0" lower="0.0" upper="0.07" velocity="0.1"/>
    <origin rpy="0 0 0" xyz="0 0 0"/>
    <dynamics damping="100" friction="200"/>
  </joint>
  <gazebo reference="hip_to_outer_leg_left_5">
    <implicitSpringDamper>true</implicitSpringDamper>
  </gazebo>
  <joint name="outer_to_center_leg_left_5" type="prismatic">
    <axis xyz="0 0 1"/>
    <parent link="outer_leg_left_5"/>
    <child link="center_leg_left_5"/>
    <limit effort="200.0" lower="0.0" upper="0.07" velocity="0.1"/>
    <origin rpy="0 0 0" xyz="0 0 0"/>
    <dynamics damping="100" friction="200"/>
  </joint>
  <gazebo reference="outer_to_center_leg_left_5">
    <implicitSpringDamper>true</implicitSpringDamper>
  </gazebo>
  <joint name="center_to_inner_leg_left_5" type="prismatic">
    <axis xyz="0 0 1"/>
    <parent link="center_leg_left_5"/>
    <child link="inner_leg_left_5"/>
    <limit effort="200.0" lower="0.0" upper="0.07" velocity="0.1"/>
    <origin rpy="0 0 0" xyz="0 0 0"/>
    <dynamics damping="100" friction="200"/>
  </joint>
  <gazebo reference="center_to_inner_leg_left_5">
    <implicitSpringDamper>true</implicitSpringDamper>
  </gazebo>
  <transmission name="outer_leg_extension_left_5_trans" type="SimpleTransmission">
    <type>transmission_interface/SimpleTransmission</type>
    <actuator name="outer_leg_extension_left_5_motor">
      <hardwareInterface>hardware_interface/PositionJointInterface</hardwareInterface>
      <mechanicalReduction>1</mechanicalReduction>
    </actuator>
    <joint name="hip_to_outer_leg_left_5">
      <hardwareInterface>hardware_interface/PositionJointInterface</hardwareInterface>
    </joint>
  </transmission>
  <transmission name="center_leg_extension_left_5_trans" type="SimpleTransmission">
    <type>transmission_interface/SimpleTransmission</type>
    <actuator name="center_leg_extension_left_5_motor">
      <hardwareInterface>hardware_interface/PositionJointInterface</hardwareInterface>
      <mechanicalReduction>1</mechanicalReduction>
    </actuator>
    <joint name="outer_to_center_leg_left_5">
      <hardwareInterface>hardware_interface/PositionJointInterface</hardwareInterface>
    </joint>
  </transmission>
  <transmission name="inner_leg_extension_left_5_trans" type="SimpleTransmission">
    <type>transmission_interface/SimpleTransmission</type>
    <actuator name="inner_leg_extension_left_5_motor">
      <hardwareInterface>hardware_interface/PositionJointInterface</hardwareInterface>
      <mechanicalReduction>1</mechanicalReduction>
    </actuator>
    <joint name="center_to_inner_leg_left_5">
      <hardwareInterface>hardware_interface/PositionJointInterface</hardwareInterface>
    </joint>
  </transmission>
  <link name="hip_left_7">
    <visual>
      <geometry>
        <cylinder length="0.07" radius="0.01"/>
      </geometry>
      <material name="black"/>
    </visual>
    <collision>
      <geometry>
        <cylinder length="0.07" radius="0.01"/>
      </geometry>
    </collision>
    <inertial>
      <mass value="0.01"/>
      <inertia ixx="4.083333333333334e-06" ixy="0.0" ixz="0.0" iyy="0.0" iyz="0.0" izz="4.083333333333334e-06"/>
    </inertial>
  </link>
  <gazebo reference="hip_left_7">
    <material>Gazebo/Grey</material>
  </gazebo>
  <link name="outer_leg_left_7">
    <visual>
      <geometry>
        <cylinder length="0.07" radius="0.008"/>
      </geometry>
      <material name="black"/>
    </visual>
    <collision>
      <geometry>
        <cylinder length="0.07" radius="0.008"/>
      </geometry>
    </collision>
    <inertial>
      <mass value="0.008"/>
      <inertia ixx="3.2666666666666674e-06" ixy="0.0" ixz="0.0" iyy="0.0" iyz="0.0" izz="3.2666666666666674e-06"/>
    </inertial>
  </link>
  <gazebo reference="outer_leg_left_7">
    <material>Gazebo/Grey</material>
  </gazebo>
  <link name="center_leg_left_7">
    <visual>
      <geometry>
        <cylinder length="0.07" radius="0.006"/>
      </geometry>
      <material name="black"/>
    </visual>
    <collision>
      <geometry>
        <cylinder length="0.07" radius="0.006"/>
      </geometry>
    </collision>
    <inertial>
      <mass value="0.006"/>
      <inertia ixx="2.45e-06" ixy="0.0" ixz="0.0" iyy="2.45e-06" iyz="0.0" izz="0.0"/>
    </inertial>
  </link>
  <gazebo reference="center_leg_left_7">
    <material>Gazebo/Grey</material>
  </gazebo>
  <link name="inner_leg_left_7">
    <visual>
      <geometry>
        <cylinder length="0.07" radius="0.004"/>
      </geometry>
      <material name="black"/>
    </visual>
    <collision>
      <geometry>
        <cylinder length="0.07" radius="0.004"/>
      </geometry>
    </collision>
    <inertial>
      <mass value="0.004"/>
      <inertia ixx="1.6333333333333337e-06" ixy="0.0" ixz="0.0" iyy="1.6333333333333337e-06" iyz="0.0" izz="0.0"/>
    </inertial>
  </link>
  <gazebo reference="inner_leg_left_7">
    <material>Gazebo/Grey</material>
  </gazebo>
  <joint name="base_to_hip_left_7" type="fixed">
    <parent link="inner_outer_connector_left"/>
    <child link="hip_left_7"/>
    <origin rpy="0 5.497787143782138 0" xyz="-0.049497474683058346 0 0.04949747468305832"/>
  </joint>
  <joint name="hip_to_outer_leg_left_7" type="prismatic">
    <axis xyz="0 0 1"/>
    <parent link="hip_left_7"/>
    <child link="outer_leg_left_7"/>
    <limit effort="200.0" lower="0.0" upper="0.07" velocity="0.1"/>
    <origin rpy="0 0 0" xyz="0 0 0"/>
    <dynamics damping="100" friction="200"/>
  </joint>
  <gazebo reference="hip_to_outer_leg_left_7">
    <implicitSpringDamper>true</implicitSpringDamper>
  </gazebo>
  <joint name="outer_to_center_leg_left_7" type="prismatic">
    <axis xyz="0 0 1"/>
    <parent link="outer_leg_left_7"/>
    <child link="center_leg_left_7"/>
    <limit effort="200.0" lower="0.0" upper="0.07" velocity="0.1"/>
    <origin rpy="0 0 0" xyz="0 0 0"/>
    <dynamics damping="100" friction="200"/>
  </joint>
  <gazebo reference="outer_to_center_leg_left_7">
    <implicitSpringDamper>true</implicitSpringDamper>
  </gazebo>
  <joint name="center_to_inner_leg_left_7" type="prismatic">
    <axis xyz="0 0 1"/>
    <parent link="center_leg_left_7"/>
    <child link="inner_leg_left_7"/>
    <limit effort="200.0" lower="0.0" upper="0.07" velocity="0.1"/>
    <origin rpy="0 0 0" xyz="0 0 0"/>
    <dynamics damping="100" friction="200"/>
  </joint>
  <gazebo reference="center_to_inner_leg_left_7">
    <implicitSpringDamper>true</implicitSpringDamper>
  </gazebo>
  <transmission name="outer_leg_extension_left_7_trans" type="SimpleTransmission">
    <type>transmission_interface/SimpleTransmission</type>
    <actuator name="outer_leg_extension_left_7_motor">
      <hardwareInterface>hardware_interface/PositionJointInterface</hardwareInterface>
      <mechanicalReduction>1</mechanicalReduction>
    </actuator>
    <joint name="hip_to_outer_leg_left_7">
      <hardwareInterface>hardware_interface/PositionJointInterface</hardwareInterface>
    </joint>
  </transmission>
  <transmission name="center_leg_extension_left_7_trans" type="SimpleTransmission">
    <type>transmission_interface/SimpleTransmission</type>
    <actuator name="center_leg_extension_left_7_motor">
      <hardwareInterface>hardware_interface/PositionJointInterface</hardwareInterface>
      <mechanicalReduction>1</mechanicalReduction>
    </actuator>
    <joint name="outer_to_center_leg_left_7">
      <hardwareInterface>hardware_interface/PositionJointInterface</hardwareInterface>
    </joint>
  </transmission>
  <transmission name="inner_leg_extension_left_7_trans" type="SimpleTransmission">
    <type>transmission_interface/SimpleTransmission</type>
    <actuator name="inner_leg_extension_left_7_motor">
      <hardwareInterface>hardware_interface/PositionJointInterface</hardwareInterface>
      <mechanicalReduction>1</mechanicalReduction>
    </actuator>
    <joint name="center_to_inner_leg_left_7">
      <hardwareInterface>hardware_interface/PositionJointInterface</hardwareInterface>
    </joint>
  </transmission>
  <!--
  -->
  <link name="mid70_0">
    <!--visual>
        <geometry>
          <box size=".097 .064 .0627"/>
        </geometry>
        <material name="white"/>
      </visual-->
    <visual>
      <!-- <origin xyz="0 0 -0.0377" /> -->
      <geometry>
        <!-- <mesh filename="package://velodyne_description/meshes/VLP16_scan.dae" /> -->
        <mesh filename="package://daedalus/meshes/MID-40.stl" scale="0.001 0.001 0.001"/>
      </geometry>
    </visual>
    <inertial>
      <mass value="0.58"/>
      <inertia ixx="0.00038" ixy="0.0" ixz="0.0" iyy="0.00064" iyz="0.0" izz="0.00065"/>
    </inertial>
  </link>
  <joint name="baseplate_to_mid70_0" type="fixed">
    <origin rpy="0 0 -0.436332" xyz="0.1 -0.1 0.095"/>
    <parent link="baseplate"/>
    <child link="mid70_0"/>
  </joint>
  <link name="anchor_0">
    <collision>
      <geometry>
        <box size=".001 .064 .0627"/>
      </geometry>
    </collision>
    <inertial>
      <mass value="0.01"/>
      <inertia ixx="0.00038" ixy="0.0" ixz="0.0" iyy="0.00064" iyz="0.0" izz="0.00065"/>
    </inertial>
  </link>
  <joint name="anchor_joint_0" type="continuous">
    <axis xyz="1 0 0"/>
    <origin rpy="0 0 0" xyz="-0.0175 0 0"/>
    <parent link="mid70_0"/>
    <child link="anchor_0"/>
    <limit effort="2000.0" velocity="6.28"/>
    <origin rpy="0 0 0" xyz="0 0 0"/>
    <dynamics damping="10.0" friction="20.0"/>
  </joint>
  <transmission name="anchor_joint_0">
    <type>transmission_interface/SimpleTransmission</type>
    <actuator name="anchor_joint_0">
      <mechanicalReduction>1</mechanicalReduction>
    </actuator>
    <joint name="anchor_joint_0">
      <hardwareInterface>hardware_interface/VelocityJointInterface</hardwareInterface>
    </joint>
  </transmission>
  <!-- <joint name="anchor_joint_${prefix}" type="fixed">
      <origin xyz="0 0 0" rpy="0 0 0"/>
      <origin xyz="0.0323 0 0" rpy="0 0 0"/>
      <parent link="mid70_${prefix}"/>
      <child link="anchor_${prefix}"/>
    </joint> -->
  <!--gazebo reference="anchor_joint_${prefix}">
    <implicitSpringDamper>true</implicitSpringDamper>
  </gazebo-->
  <gazebo reference="anchor_0">
    <material>Gazebo/Grey</material>
    <sensor name="hokuyo" type="gpu_ray">
      <pose>0 0 0 0 0 0</pose>
      <visualize>false</visualize>
      <update_rate>60</update_rate>
      <ray>
        <scan>
          <horizontal>
            <samples>90</samples>
            <resolution>1</resolution>
            <min_angle>-0.614356</min_angle>
            <max_angle>0.614356</max_angle>
          </horizontal>
          <!-- <vertical>
                    <samples>30</samples>
                    <resolution>1</resolution>
                    <min_angle>-0.614356</min_angle>
                    <max_angle>0.614356</max_angle>
                </vertical> -->
        </scan>
        <range>
          <min>0.05</min>
          <max>90.0</max>
          <resolution>0.01</resolution>
        </range>
        <noise>
          <type>gaussian</type>
          <mean>0.0</mean>
          <stddev>0.01</stddev>
        </noise>
      </ray>
      <plugin filename="libgazebo_ros_gpu_laser.so" name="gazebo_laser">
        <topicName>/daedalus/laser/scan_0</topicName>
        <frameName>anchor_0</frameName>
      </plugin>
    </sensor>
    <!--sensor name="block_lidar" type="gpu_ray">
        <visualize>true</visualize>
        <pose>0.0 0.0 0.0 0.0 0.0 0.0</pose>
        <ray>
            <scan>
                <horizontal>
                    <samples>30</samples>
                    <resolution>1</resolution>
                    <min_angle>-0.614356</min_angle>
                    <max_angle>0.614356</max_angle>
                </horizontal>
                <vertical>
                    <samples>30</samples>
                    <resolution>1</resolution>
                    <min_angle>-0.614356</min_angle>
                    <max_angle>0.614356</max_angle>
                </vertical>
            </scan>
            <range>
                <min>0.05</min>
                <max>90.0</max>
            </range>
        </ray>
        <plugin name="lidar_plugin" filename="libgazebo_ros_gpu_block_laser.so">
            <gaussianNoise>0.00</gaussianNoise>
            <alwaysOn>true</alwaysOn>
            <updateRate>20</updateRate>
            <topicName>/daedalus/laser_scan_${prefix}</topicName>
            <frameName>anchor_${prefix}</frameName>
        </plugin>
        <always_on>true</always_on>
        <update_rate>10.0</update_rate>
      </sensor>
    </gazebo-->
    <!-- <sensor type="ray" name="MID-40_${prefix}">
        <pose>0 0 0 0 0 0</pose>
        <visualize>false</visualize>
        <update_rate>20</update_rate>
        <ray>
          <scan>
            <horizontal>
              <samples>1</samples>
              <resolution>1</resolution>
              <min_angle>-${43*M_PI/180.0}</min_angle>
              <max_angle> ${43*M_PI/180.0}</max_angle>
            </horizontal>
            <vertical>
              <samples>1</samples>
              <resolution>1</resolution>
              <min_angle>-${43*M_PI/180.0}</min_angle>
              <max_angle> ${43*M_PI/180.0}</max_angle>
            </vertical>
          </scan>
          <range>
            <min>0.3</min>
            <max>130</max>
            <resolution>0.001</resolution>
          </range>
          <noise>
            <type>gaussian</type>
            <mean>0.0</mean>
            <stddev>0.0</stddev>
          </noise>
        </ray> -->
    <!--plugin name="gazebo_ros_laser_controller" filename="libgazebo_ros_livox_gpu_laser.so">
            <topicName>/daedalus/laser_scan_${prefix}</topicName>
            <frameName>anchor_${prefix}</frameName>
            <<min_range>0.2</min_range>
            <max_range>100</max_range>
            <num_samples>10</num_samples>
            <num_ellipses>4</num_ellipses>
            <rotation_step>0.33</rotation_step>
            <update_rate>20</update_rate>>
          </plugin-->
    <!-- <plugin name="gazebo_ros_laser_controller_${prefix}" filename="libgazebo_ros_livox_laser.so">
            <topicName>/daedalus/laser_scan_${prefix}</topicName>
            <frameName>anchor_${prefix}</frameName>
            <min_range>0.3</min_range>
            <max_range>130</max_range>
            <num_samples>10</num_samples>
            <num_ellipses>4</num_ellipses>
            <rotation_step>0.33</rotation_step>
            <update_rate>20</update_rate>
          </plugin>
      </sensor> -->
  </gazebo>
  <link name="mid70_1">
    <!--visual>
        <geometry>
          <box size=".097 .064 .0627"/>
        </geometry>
        <material name="white"/>
      </visual-->
    <visual>
      <!-- <origin xyz="0 0 -0.0377" /> -->
      <geometry>
        <!-- <mesh filename="package://velodyne_description/meshes/VLP16_scan.dae" /> -->
        <mesh filename="package://daedalus/meshes/MID-40.stl" scale="0.001 0.001 0.001"/>
      </geometry>
    </visual>
    <inertial>
      <mass value="0.58"/>
      <inertia ixx="0.00038" ixy="0.0" ixz="0.0" iyy="0.00064" iyz="0.0" izz="0.00065"/>
    </inertial>
  </link>
  <joint name="baseplate_to_mid70_1" type="fixed">
    <origin rpy="0 0 0.436332" xyz="0.1 0.1 0.095"/>
    <parent link="baseplate"/>
    <child link="mid70_1"/>
  </joint>
  <link name="anchor_1">
    <collision>
      <geometry>
        <box size=".001 .064 .0627"/>
      </geometry>
    </collision>
    <inertial>
      <mass value="0.01"/>
      <inertia ixx="0.00038" ixy="0.0" ixz="0.0" iyy="0.00064" iyz="0.0" izz="0.00065"/>
    </inertial>
  </link>
  <joint name="anchor_joint_1" type="continuous">
    <axis xyz="1 0 0"/>
    <origin rpy="0 0 0" xyz="-0.0175 0 0"/>
    <parent link="mid70_1"/>
    <child link="anchor_1"/>
    <limit effort="2000.0" velocity="6.28"/>
    <origin rpy="0 0 0" xyz="0 0 0"/>
    <dynamics damping="10.0" friction="20.0"/>
  </joint>
  <transmission name="anchor_joint_1">
    <type>transmission_interface/SimpleTransmission</type>
    <actuator name="anchor_joint_1">
      <mechanicalReduction>1</mechanicalReduction>
    </actuator>
    <joint name="anchor_joint_1">
      <hardwareInterface>hardware_interface/VelocityJointInterface</hardwareInterface>
    </joint>
  </transmission>
  <!-- <joint name="anchor_joint_${prefix}" type="fixed">
      <origin xyz="0 0 0" rpy="0 0 0"/>
      <origin xyz="0.0323 0 0" rpy="0 0 0"/>
      <parent link="mid70_${prefix}"/>
      <child link="anchor_${prefix}"/>
    </joint> -->
  <!--gazebo reference="anchor_joint_${prefix}">
    <implicitSpringDamper>true</implicitSpringDamper>
  </gazebo-->
  <gazebo reference="anchor_1">
    <material>Gazebo/Grey</material>
    <sensor name="hokuyo" type="gpu_ray">
      <pose>0 0 0 0 0 0</pose>
      <visualize>false</visualize>
      <update_rate>60</update_rate>
      <ray>
        <scan>
          <horizontal>
            <samples>90</samples>
            <resolution>1</resolution>
            <min_angle>-0.614356</min_angle>
            <max_angle>0.614356</max_angle>
          </horizontal>
          <!-- <vertical>
                    <samples>30</samples>
                    <resolution>1</resolution>
                    <min_angle>-0.614356</min_angle>
                    <max_angle>0.614356</max_angle>
                </vertical> -->
        </scan>
        <range>
          <min>0.05</min>
          <max>90.0</max>
          <resolution>0.01</resolution>
        </range>
        <noise>
          <type>gaussian</type>
          <mean>0.0</mean>
          <stddev>0.01</stddev>
        </noise>
      </ray>
      <plugin filename="libgazebo_ros_gpu_laser.so" name="gazebo_laser">
        <topicName>/daedalus/laser/scan_1</topicName>
        <frameName>anchor_1</frameName>
      </plugin>
    </sensor>
    <!--sensor name="block_lidar" type="gpu_ray">
        <visualize>true</visualize>
        <pose>0.0 0.0 0.0 0.0 0.0 0.0</pose>
        <ray>
            <scan>
                <horizontal>
                    <samples>30</samples>
                    <resolution>1</resolution>
                    <min_angle>-0.614356</min_angle>
                    <max_angle>0.614356</max_angle>
                </horizontal>
                <vertical>
                    <samples>30</samples>
                    <resolution>1</resolution>
                    <min_angle>-0.614356</min_angle>
                    <max_angle>0.614356</max_angle>
                </vertical>
            </scan>
            <range>
                <min>0.05</min>
                <max>90.0</max>
            </range>
        </ray>
        <plugin name="lidar_plugin" filename="libgazebo_ros_gpu_block_laser.so">
            <gaussianNoise>0.00</gaussianNoise>
            <alwaysOn>true</alwaysOn>
            <updateRate>20</updateRate>
            <topicName>/daedalus/laser_scan_${prefix}</topicName>
            <frameName>anchor_${prefix}</frameName>
        </plugin>
        <always_on>true</always_on>
        <update_rate>10.0</update_rate>
      </sensor>
    </gazebo-->
    <!-- <sensor type="ray" name="MID-40_${prefix}">
        <pose>0 0 0 0 0 0</pose>
        <visualize>false</visualize>
        <update_rate>20</update_rate>
        <ray>
          <scan>
            <horizontal>
              <samples>1</samples>
              <resolution>1</resolution>
              <min_angle>-${43*M_PI/180.0}</min_angle>
              <max_angle> ${43*M_PI/180.0}</max_angle>
            </horizontal>
            <vertical>
              <samples>1</samples>
              <resolution>1</resolution>
              <min_angle>-${43*M_PI/180.0}</min_angle>
              <max_angle> ${43*M_PI/180.0}</max_angle>
            </vertical>
          </scan>
          <range>
            <min>0.3</min>
            <max>130</max>
            <resolution>0.001</resolution>
          </range>
          <noise>
            <type>gaussian</type>
            <mean>0.0</mean>
            <stddev>0.0</stddev>
          </noise>
        </ray> -->
    <!--plugin name="gazebo_ros_laser_controller" filename="libgazebo_ros_livox_gpu_laser.so">
            <topicName>/daedalus/laser_scan_${prefix}</topicName>
            <frameName>anchor_${prefix}</frameName>
            <<min_range>0.2</min_range>
            <max_range>100</max_range>
            <num_samples>10</num_samples>
            <num_ellipses>4</num_ellipses>
            <rotation_step>0.33</rotation_step>
            <update_rate>20</update_rate>>
          </plugin-->
    <!-- <plugin name="gazebo_ros_laser_controller_${prefix}" filename="libgazebo_ros_livox_laser.so">
            <topicName>/daedalus/laser_scan_${prefix}</topicName>
            <frameName>anchor_${prefix}</frameName>
            <min_range>0.3</min_range>
            <max_range>130</max_range>
            <num_samples>10</num_samples>
            <num_ellipses>4</num_ellipses>
            <rotation_step>0.33</rotation_step>
            <update_rate>20</update_rate>
          </plugin>
      </sensor> -->
  </gazebo>
  <link name="mid70_2">
    <!--visual>
        <geometry>
          <box size=".097 .064 .0627"/>
        </geometry>
        <material name="white"/>
      </visual-->
    <visual>
      <!-- <origin xyz="0 0 -0.0377" /> -->
      <geometry>
        <!-- <mesh filename="package://velodyne_description/meshes/VLP16_scan.dae" /> -->
        <mesh filename="package://daedalus/meshes/MID-40.stl" scale="0.001 0.001 0.001"/>
      </geometry>
    </visual>
    <inertial>
      <mass value="0.58"/>
      <inertia ixx="0.00038" ixy="0.0" ixz="0.0" iyy="0.00064" iyz="0.0" izz="0.00065"/>
    </inertial>
  </link>
  <joint name="baseplate_to_mid70_2" type="fixed">
    <origin rpy="0 0 2.705260653589793" xyz="-0.1 0.1 0.095"/>
    <parent link="baseplate"/>
    <child link="mid70_2"/>
  </joint>
  <link name="anchor_2">
    <collision>
      <geometry>
        <box size=".001 .064 .0627"/>
      </geometry>
    </collision>
    <inertial>
      <mass value="0.01"/>
      <inertia ixx="0.00038" ixy="0.0" ixz="0.0" iyy="0.00064" iyz="0.0" izz="0.00065"/>
    </inertial>
  </link>
  <joint name="anchor_joint_2" type="continuous">
    <axis xyz="1 0 0"/>
    <origin rpy="0 0 0" xyz="-0.0175 0 0"/>
    <parent link="mid70_2"/>
    <child link="anchor_2"/>
    <limit effort="2000.0" velocity="6.28"/>
    <origin rpy="0 0 0" xyz="0 0 0"/>
    <dynamics damping="10.0" friction="20.0"/>
  </joint>
  <transmission name="anchor_joint_2">
    <type>transmission_interface/SimpleTransmission</type>
    <actuator name="anchor_joint_2">
      <mechanicalReduction>1</mechanicalReduction>
    </actuator>
    <joint name="anchor_joint_2">
      <hardwareInterface>hardware_interface/VelocityJointInterface</hardwareInterface>
    </joint>
  </transmission>
  <!-- <joint name="anchor_joint_${prefix}" type="fixed">
      <origin xyz="0 0 0" rpy="0 0 0"/>
      <origin xyz="0.0323 0 0" rpy="0 0 0"/>
      <parent link="mid70_${prefix}"/>
      <child link="anchor_${prefix}"/>
    </joint> -->
  <!--gazebo reference="anchor_joint_${prefix}">
    <implicitSpringDamper>true</implicitSpringDamper>
  </gazebo-->
  <gazebo reference="anchor_2">
    <material>Gazebo/Grey</material>
    <sensor name="hokuyo" type="gpu_ray">
      <pose>0 0 0 0 0 0</pose>
      <visualize>false</visualize>
      <update_rate>60</update_rate>
      <ray>
        <scan>
          <horizontal>
            <samples>90</samples>
            <resolution>1</resolution>
            <min_angle>-0.614356</min_angle>
            <max_angle>0.614356</max_angle>
          </horizontal>
          <!-- <vertical>
                    <samples>30</samples>
                    <resolution>1</resolution>
                    <min_angle>-0.614356</min_angle>
                    <max_angle>0.614356</max_angle>
                </vertical> -->
        </scan>
        <range>
          <min>0.05</min>
          <max>90.0</max>
          <resolution>0.01</resolution>
        </range>
        <noise>
          <type>gaussian</type>
          <mean>0.0</mean>
          <stddev>0.01</stddev>
        </noise>
      </ray>
      <plugin filename="libgazebo_ros_gpu_laser.so" name="gazebo_laser">
        <topicName>/daedalus/laser/scan_2</topicName>
        <frameName>anchor_2</frameName>
      </plugin>
    </sensor>
    <!--sensor name="block_lidar" type="gpu_ray">
        <visualize>true</visualize>
        <pose>0.0 0.0 0.0 0.0 0.0 0.0</pose>
        <ray>
            <scan>
                <horizontal>
                    <samples>30</samples>
                    <resolution>1</resolution>
                    <min_angle>-0.614356</min_angle>
                    <max_angle>0.614356</max_angle>
                </horizontal>
                <vertical>
                    <samples>30</samples>
                    <resolution>1</resolution>
                    <min_angle>-0.614356</min_angle>
                    <max_angle>0.614356</max_angle>
                </vertical>
            </scan>
            <range>
                <min>0.05</min>
                <max>90.0</max>
            </range>
        </ray>
        <plugin name="lidar_plugin" filename="libgazebo_ros_gpu_block_laser.so">
            <gaussianNoise>0.00</gaussianNoise>
            <alwaysOn>true</alwaysOn>
            <updateRate>20</updateRate>
            <topicName>/daedalus/laser_scan_${prefix}</topicName>
            <frameName>anchor_${prefix}</frameName>
        </plugin>
        <always_on>true</always_on>
        <update_rate>10.0</update_rate>
      </sensor>
    </gazebo-->
    <!-- <sensor type="ray" name="MID-40_${prefix}">
        <pose>0 0 0 0 0 0</pose>
        <visualize>false</visualize>
        <update_rate>20</update_rate>
        <ray>
          <scan>
            <horizontal>
              <samples>1</samples>
              <resolution>1</resolution>
              <min_angle>-${43*M_PI/180.0}</min_angle>
              <max_angle> ${43*M_PI/180.0}</max_angle>
            </horizontal>
            <vertical>
              <samples>1</samples>
              <resolution>1</resolution>
              <min_angle>-${43*M_PI/180.0}</min_angle>
              <max_angle> ${43*M_PI/180.0}</max_angle>
            </vertical>
          </scan>
          <range>
            <min>0.3</min>
            <max>130</max>
            <resolution>0.001</resolution>
          </range>
          <noise>
            <type>gaussian</type>
            <mean>0.0</mean>
            <stddev>0.0</stddev>
          </noise>
        </ray> -->
    <!--plugin name="gazebo_ros_laser_controller" filename="libgazebo_ros_livox_gpu_laser.so">
            <topicName>/daedalus/laser_scan_${prefix}</topicName>
            <frameName>anchor_${prefix}</frameName>
            <<min_range>0.2</min_range>
            <max_range>100</max_range>
            <num_samples>10</num_samples>
            <num_ellipses>4</num_ellipses>
            <rotation_step>0.33</rotation_step>
            <update_rate>20</update_rate>>
          </plugin-->
    <!-- <plugin name="gazebo_ros_laser_controller_${prefix}" filename="libgazebo_ros_livox_laser.so">
            <topicName>/daedalus/laser_scan_${prefix}</topicName>
            <frameName>anchor_${prefix}</frameName>
            <min_range>0.3</min_range>
            <max_range>130</max_range>
            <num_samples>10</num_samples>
            <num_ellipses>4</num_ellipses>
            <rotation_step>0.33</rotation_step>
            <update_rate>20</update_rate>
          </plugin>
      </sensor> -->
  </gazebo>
  <link name="mid70_3">
    <!--visual>
        <geometry>
          <box size=".097 .064 .0627"/>
        </geometry>
        <material name="white"/>
      </visual-->
    <visual>
      <!-- <origin xyz="0 0 -0.0377" /> -->
      <geometry>
        <!-- <mesh filename="package://velodyne_description/meshes/VLP16_scan.dae" /> -->
        <mesh filename="package://daedalus/meshes/MID-40.stl" scale="0.001 0.001 0.001"/>
      </geometry>
    </visual>
    <inertial>
      <mass value="0.58"/>
      <inertia ixx="0.00038" ixy="0.0" ixz="0.0" iyy="0.00064" iyz="0.0" izz="0.00065"/>
    </inertial>
  </link>
  <joint name="baseplate_to_mid70_3" type="fixed">
    <origin rpy="0 0 3.5779246535897933" xyz="-0.1 -0.1 0.095"/>
    <parent link="baseplate"/>
    <child link="mid70_3"/>
  </joint>
  <link name="anchor_3">
    <collision>
      <geometry>
        <box size=".001 .064 .0627"/>
      </geometry>
    </collision>
    <inertial>
      <mass value="0.01"/>
      <inertia ixx="0.00038" ixy="0.0" ixz="0.0" iyy="0.00064" iyz="0.0" izz="0.00065"/>
    </inertial>
  </link>
  <joint name="anchor_joint_3" type="continuous">
    <axis xyz="1 0 0"/>
    <origin rpy="0 0 0" xyz="-0.0175 0 0"/>
    <parent link="mid70_3"/>
    <child link="anchor_3"/>
    <limit effort="2000.0" velocity="6.28"/>
    <origin rpy="0 0 0" xyz="0 0 0"/>
    <dynamics damping="10.0" friction="20.0"/>
  </joint>
  <transmission name="anchor_joint_3">
    <type>transmission_interface/SimpleTransmission</type>
    <actuator name="anchor_joint_3">
      <mechanicalReduction>1</mechanicalReduction>
    </actuator>
    <joint name="anchor_joint_3">
      <hardwareInterface>hardware_interface/VelocityJointInterface</hardwareInterface>
    </joint>
  </transmission>
  <!-- <joint name="anchor_joint_${prefix}" type="fixed">
      <origin xyz="0 0 0" rpy="0 0 0"/>
      <origin xyz="0.0323 0 0" rpy="0 0 0"/>
      <parent link="mid70_${prefix}"/>
      <child link="anchor_${prefix}"/>
    </joint> -->
  <!--gazebo reference="anchor_joint_${prefix}">
    <implicitSpringDamper>true</implicitSpringDamper>
  </gazebo-->
  <gazebo reference="anchor_3">
    <material>Gazebo/Grey</material>
    <sensor name="hokuyo" type="gpu_ray">
      <pose>0 0 0 0 0 0</pose>
      <visualize>false</visualize>
      <update_rate>60</update_rate>
      <ray>
        <scan>
          <horizontal>
            <samples>90</samples>
            <resolution>1</resolution>
            <min_angle>-0.614356</min_angle>
            <max_angle>0.614356</max_angle>
          </horizontal>
          <!-- <vertical>
                    <samples>30</samples>
                    <resolution>1</resolution>
                    <min_angle>-0.614356</min_angle>
                    <max_angle>0.614356</max_angle>
                </vertical> -->
        </scan>
        <range>
          <min>0.05</min>
          <max>90.0</max>
          <resolution>0.01</resolution>
        </range>
        <noise>
          <type>gaussian</type>
          <mean>0.0</mean>
          <stddev>0.01</stddev>
        </noise>
      </ray>
      <plugin filename="libgazebo_ros_gpu_laser.so" name="gazebo_laser">
        <topicName>/daedalus/laser/scan_3</topicName>
        <frameName>anchor_3</frameName>
      </plugin>
    </sensor>
    <!--sensor name="block_lidar" type="gpu_ray">
        <visualize>true</visualize>
        <pose>0.0 0.0 0.0 0.0 0.0 0.0</pose>
        <ray>
            <scan>
                <horizontal>
                    <samples>30</samples>
                    <resolution>1</resolution>
                    <min_angle>-0.614356</min_angle>
                    <max_angle>0.614356</max_angle>
                </horizontal>
                <vertical>
                    <samples>30</samples>
                    <resolution>1</resolution>
                    <min_angle>-0.614356</min_angle>
                    <max_angle>0.614356</max_angle>
                </vertical>
            </scan>
            <range>
                <min>0.05</min>
                <max>90.0</max>
            </range>
        </ray>
        <plugin name="lidar_plugin" filename="libgazebo_ros_gpu_block_laser.so">
            <gaussianNoise>0.00</gaussianNoise>
            <alwaysOn>true</alwaysOn>
            <updateRate>20</updateRate>
            <topicName>/daedalus/laser_scan_${prefix}</topicName>
            <frameName>anchor_${prefix}</frameName>
        </plugin>
        <always_on>true</always_on>
        <update_rate>10.0</update_rate>
      </sensor>
    </gazebo-->
    <!-- <sensor type="ray" name="MID-40_${prefix}">
        <pose>0 0 0 0 0 0</pose>
        <visualize>false</visualize>
        <update_rate>20</update_rate>
        <ray>
          <scan>
            <horizontal>
              <samples>1</samples>
              <resolution>1</resolution>
              <min_angle>-${43*M_PI/180.0}</min_angle>
              <max_angle> ${43*M_PI/180.0}</max_angle>
            </horizontal>
            <vertical>
              <samples>1</samples>
              <resolution>1</resolution>
              <min_angle>-${43*M_PI/180.0}</min_angle>
              <max_angle> ${43*M_PI/180.0}</max_angle>
            </vertical>
          </scan>
          <range>
            <min>0.3</min>
            <max>130</max>
            <resolution>0.001</resolution>
          </range>
          <noise>
            <type>gaussian</type>
            <mean>0.0</mean>
            <stddev>0.0</stddev>
          </noise>
        </ray> -->
    <!--plugin name="gazebo_ros_laser_controller" filename="libgazebo_ros_livox_gpu_laser.so">
            <topicName>/daedalus/laser_scan_${prefix}</topicName>
            <frameName>anchor_${prefix}</frameName>
            <<min_range>0.2</min_range>
            <max_range>100</max_range>
            <num_samples>10</num_samples>
            <num_ellipses>4</num_ellipses>
            <rotation_step>0.33</rotation_step>
            <update_rate>20</update_rate>>
          </plugin-->
    <!-- <plugin name="gazebo_ros_laser_controller_${prefix}" filename="libgazebo_ros_livox_laser.so">
            <topicName>/daedalus/laser_scan_${prefix}</topicName>
            <frameName>anchor_${prefix}</frameName>
            <min_range>0.3</min_range>
            <max_range>130</max_range>
            <num_samples>10</num_samples>
            <num_ellipses>4</num_ellipses>
            <rotation_step>0.33</rotation_step>
            <update_rate>20</update_rate>
          </plugin>
      </sensor> -->
  </gazebo>
  <link name="imu_link_0">
    <visual>
      <geometry>
        <box size=".01 .01 .01"/>
      </geometry>
      <origin rpy="0 0 0" xyz="0 0 0"/>
      <material name="blue"/>
    </visual>
  </link>
  <joint name="imu_joint_0" type="fixed">
    <parent link="baseplate"/>
    <child link="imu_link_0"/>
    <origin rpy="0 0 0" xyz="0 0 .05"/>
  </joint>
  <gazebo reference="imu_link_0">
    <gravity>true</gravity>
    <sensor name="imu_sensor_0" type="imu">
      <always_on>true</always_on>
      <update_rate>100</update_rate>
      <visualize>true</visualize>
      <topic>/daedalus/imu_0</topic>
      <plugin filename="libgazebo_ros_imu_sensor.so" name="imu_plugin">
        <topicName>/daedalus/imu_0</topicName>
        <bodyName>imu_link_0</bodyName>
        <updateRateHZ>100</updateRateHZ>
        <gaussianNoise>2e-4</gaussianNoise>
        <xyzOffset>0 0 0</xyzOffset>
        <rpyOffset>0 0 0</rpyOffset>
        <frameName>imu_link_0</frameName>
        <initialOrientationAsReference>true</initialOrientationAsReference>
      </plugin>
      <pose>0 0 0 0 0 0</pose>
    </sensor>
    <material>Gazebo/Green</material>
  </gazebo>
  <link name="imu_link_1">
    <visual>
      <geometry>
        <box size=".01 .01 .01"/>
      </geometry>
      <origin rpy="0 0 0" xyz="0 0 0"/>
      <material name="blue"/>
    </visual>
  </link>
  <joint name="imu_joint_1" type="fixed">
    <parent link="baseplate"/>
    <child link="imu_link_1"/>
    <origin rpy="0 0 1.5707963267948966" xyz="0 0 .05"/>
  </joint>
  <gazebo reference="imu_link_1">
    <gravity>true</gravity>
    <sensor name="imu_sensor_1" type="imu">
      <always_on>true</always_on>
      <update_rate>100</update_rate>
      <visualize>true</visualize>
      <topic>/daedalus/imu_1</topic>
      <plugin filename="libgazebo_ros_imu_sensor.so" name="imu_plugin">
        <topicName>/daedalus/imu_1</topicName>
        <bodyName>imu_link_1</bodyName>
        <updateRateHZ>100</updateRateHZ>
        <gaussianNoise>2e-4</gaussianNoise>
        <xyzOffset>0 0 0</xyzOffset>
        <rpyOffset>0 0 0</rpyOffset>
        <frameName>imu_link_1</frameName>
        <initialOrientationAsReference>true</initialOrientationAsReference>
      </plugin>
      <pose>0 0 0 0 0 0</pose>
    </sensor>
    <material>Gazebo/Green</material>
  </gazebo>
  <link name="imu_link_2">
    <visual>
      <geometry>
        <box size=".01 .01 .01"/>
      </geometry>
      <origin rpy="0 0 0" xyz="0 0 0"/>
      <material name="blue"/>
    </visual>
  </link>
  <joint name="imu_joint_2" type="fixed">
    <parent link="baseplate"/>
    <child link="imu_link_2"/>
    <origin rpy="0 1.5707963267948966 0" xyz="0 0 .05"/>
  </joint>
  <gazebo reference="imu_link_2">
    <gravity>true</gravity>
    <sensor name="imu_sensor_2" type="imu">
      <always_on>true</always_on>
      <update_rate>100</update_rate>
      <visualize>true</visualize>
      <topic>/daedalus/imu_2</topic>
      <plugin filename="libgazebo_ros_imu_sensor.so" name="imu_plugin">
        <topicName>/daedalus/imu_2</topicName>
        <bodyName>imu_link_2</bodyName>
        <updateRateHZ>100</updateRateHZ>
        <gaussianNoise>2e-4</gaussianNoise>
        <xyzOffset>0 0 0</xyzOffset>
        <rpyOffset>0 0 0</rpyOffset>
        <frameName>imu_link_2</frameName>
        <initialOrientationAsReference>true</initialOrientationAsReference>
      </plugin>
      <pose>0 0 0 0 0 0</pose>
    </sensor>
    <material>Gazebo/Green</material>
  </gazebo>
  <link name="drive_encoder_r_0">
    <visual>
      <geometry>
        <box size="0.005 0.01 0.01"/>
      </geometry>
      <origin rpy="0 0 0" xyz="0 0 0"/>
    </visual>
  </link>
  <joint name="encoder_joint_r_0" type="fixed">
    <parent link="baseplate"/>
    <child link="drive_encoder_r_0"/>
    <origin rpy="0 0 1.5707963267948966" xyz="0.2 0.05 -0.05"/>
  </joint>
  <gazebo reference="drive_encoder_r_0">
    <material>Gazebo/White</material>
    <sensor name="hokuyo" type="gpu_ray">
      <pose>0 0 0 0 0 0</pose>
      <visualize>false</visualize>
      <update_rate>60</update_rate>
      <ray>
        <scan>
          <horizontal>
            <samples>1</samples>
            <resolution>1</resolution>
            <min_angle>0</min_angle>
            <max_angle>0</max_angle>
          </horizontal>
        </scan>
        <range>
          <min>0.05</min>
          <max>90.0</max>
          <resolution>0.01</resolution>
        </range>
        <noise>
          <type>gaussian</type>
          <mean>0.0</mean>
          <stddev>0.01</stddev>
        </noise>
      </ray>
      <plugin filename="libgazebo_ros_gpu_laser.so" name="gazebo_laser">
        <topicName>/daedalus/drive_encoder_r_0</topicName>
        <frameName>drive_encoder_r_0</frameName>
      </plugin>
    </sensor>
  </gazebo>
  <link name="drive_encoder_r_1">
    <visual>
      <geometry>
        <box size="0.005 0.01 0.01"/>
      </geometry>
      <origin rpy="0 0 0" xyz="0 0 0"/>
    </visual>
  </link>
  <joint name="encoder_joint_r_1" type="fixed">
    <parent link="baseplate"/>
    <child link="drive_encoder_r_1"/>
    <origin rpy="0 0 1.5707963267948966" xyz="0.2 -0.05 -0.05"/>
  </joint>
  <gazebo reference="drive_encoder_r_1">
    <material>Gazebo/White</material>
    <sensor name="hokuyo" type="gpu_ray">
      <pose>0 0 0 0 0 0</pose>
      <visualize>false</visualize>
      <update_rate>60</update_rate>
      <ray>
        <scan>
          <horizontal>
            <samples>1</samples>
            <resolution>1</resolution>
            <min_angle>0</min_angle>
            <max_angle>0</max_angle>
          </horizontal>
        </scan>
        <range>
          <min>0.05</min>
          <max>90.0</max>
          <resolution>0.01</resolution>
        </range>
        <noise>
          <type>gaussian</type>
          <mean>0.0</mean>
          <stddev>0.01</stddev>
        </noise>
      </ray>
      <plugin filename="libgazebo_ros_gpu_laser.so" name="gazebo_laser">
        <topicName>/daedalus/drive_encoder_r_1</topicName>
        <frameName>drive_encoder_r_1</frameName>
      </plugin>
    </sensor>
  </gazebo>
  <link name="drive_encoder_l_0">
    <visual>
      <geometry>
        <box size="0.005 0.01 0.01"/>
      </geometry>
      <origin rpy="0 0 0" xyz="0 0 0"/>
    </visual>
  </link>
  <joint name="encoder_joint_l_0" type="fixed">
    <parent link="baseplate"/>
    <child link="drive_encoder_l_0"/>
    <origin rpy="0 0 -1.5707963267948966" xyz="-0.2 0.05 -0.05"/>
  </joint>
  <gazebo reference="drive_encoder_l_0">
    <material>Gazebo/White</material>
    <sensor name="hokuyo" type="gpu_ray">
      <pose>0 0 0 0 0 0</pose>
      <visualize>false</visualize>
      <update_rate>60</update_rate>
      <ray>
        <scan>
          <horizontal>
            <samples>1</samples>
            <resolution>1</resolution>
            <min_angle>0</min_angle>
            <max_angle>0</max_angle>
          </horizontal>
        </scan>
        <range>
          <min>0.05</min>
          <max>90.0</max>
          <resolution>0.01</resolution>
        </range>
        <noise>
          <type>gaussian</type>
          <mean>0.0</mean>
          <stddev>0.01</stddev>
        </noise>
      </ray>
      <plugin filename="libgazebo_ros_gpu_laser.so" name="gazebo_laser">
        <topicName>/daedalus/drive_encoder_l_0</topicName>
        <frameName>drive_encoder_l_0</frameName>
      </plugin>
    </sensor>
  </gazebo>
  <link name="drive_encoder_l_1">
    <visual>
      <geometry>
        <box size="0.005 0.01 0.01"/>
      </geometry>
      <origin rpy="0 0 0" xyz="0 0 0"/>
    </visual>
  </link>
  <joint name="encoder_joint_l_1" type="fixed">
    <parent link="baseplate"/>
    <child link="drive_encoder_l_1"/>
    <origin rpy="0 0 -1.5707963267948966" xyz="-0.2 -0.05 -0.05"/>
  </joint>
  <gazebo reference="drive_encoder_l_1">
    <material>Gazebo/White</material>
    <sensor name="hokuyo" type="gpu_ray">
      <pose>0 0 0 0 0 0</pose>
      <visualize>false</visualize>
      <update_rate>60</update_rate>
      <ray>
        <scan>
          <horizontal>
            <samples>1</samples>
            <resolution>1</resolution>
            <min_angle>0</min_angle>
            <max_angle>0</max_angle>
          </horizontal>
        </scan>
        <range>
          <min>0.05</min>
          <max>90.0</max>
          <resolution>0.01</resolution>
        </range>
        <noise>
          <type>gaussian</type>
          <mean>0.0</mean>
          <stddev>0.01</stddev>
        </noise>
      </ray>
      <plugin filename="libgazebo_ros_gpu_laser.so" name="gazebo_laser">
        <topicName>/daedalus/drive_encoder_l_1</topicName>
        <frameName>drive_encoder_l_1</frameName>
      </plugin>
    </sensor>
  </gazebo>
  <gazebo>
    <plugin filename="libgazebo_ros_control.so" name="gazebo_ros_control">
      <robotNamespace>/</robotNamespace>
    </plugin>
  </gazebo>
</robot>
